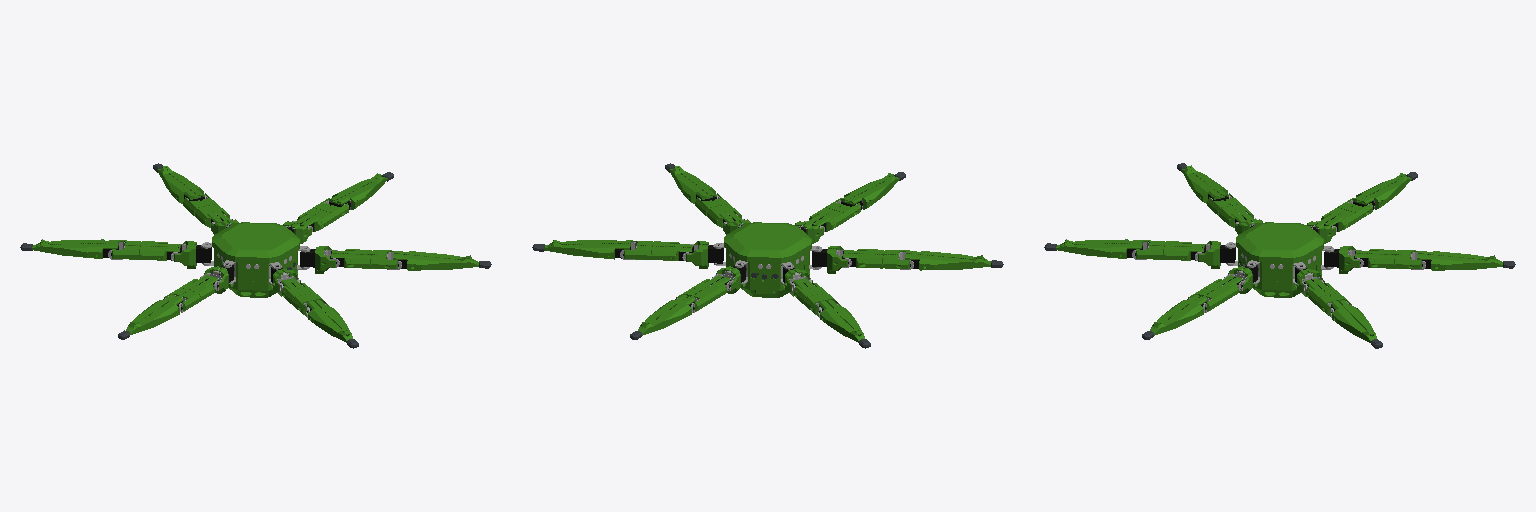
--- Facts derived from the render (not from the file) ---
3 views of the same robot in one strip: view 1: azimuth 30°, elevation 25°; view 2: azimuth 150°, elevation 25°; view 3: azimuth 270°, elevation 25° (orthographic).
Model [local-path]\OneDrive\Documents\hexapod\hexapod_py\simulation with 19 links and 18 joints (18 revolute), rooted at base_link, posed every joint at zero.
Visible links, largest first — view 1: base_link, foot_assembly_2, foot_assembly_5, foot_assembly_4, ties_assembly_5, ties_assembly_2, foot_assembly_3, foot_assembly, foot_assembly_6, ties_assembly_4, ties_assembly, ties_assembly_3 (+3 smaller); view 2: base_link, foot_assembly_4, foot_assembly, foot_assembly_6, ties_assembly, ties_assembly_4, foot_assembly_5, foot_assembly_3, foot_assembly_2, ties_assembly_6, ties_assembly_3, ties_assembly_5 (+3 smaller); view 3: base_link, foot_assembly_6, foot_assembly_3, foot_assembly_2, ties_assembly_3, ties_assembly_6, foot_assembly, foot_assembly_5, foot_assembly_4, ties_assembly_2, ties_assembly_5, ties_assembly (+3 smaller).
Boxes of the visible links, bbox=[...] form: base_link: bbox=[204, 222, 307, 297]; foot_assembly_2: bbox=[393, 251, 491, 270]; foot_assembly_5: bbox=[20, 239, 118, 258]; foot_assembly_4: bbox=[118, 294, 182, 339]; ties_assembly_5: bbox=[111, 240, 181, 260]; ties_assembly_2: bbox=[330, 249, 398, 269]; foot_assembly_3: bbox=[307, 300, 358, 348]; foot_assembly: bbox=[327, 172, 393, 209]; foot_assembly_6: bbox=[153, 163, 205, 203]; ties_assembly_4: bbox=[163, 275, 218, 312]; ties_assembly: bbox=[294, 198, 348, 231]; ties_assembly_3: bbox=[280, 278, 328, 317]; base_link: bbox=[716, 222, 819, 297]; foot_assembly_4: bbox=[905, 250, 1003, 270]; foot_assembly: bbox=[532, 240, 630, 259]; foot_assembly_6: bbox=[630, 295, 694, 339]; ties_assembly: bbox=[623, 240, 693, 260]; ties_assembly_4: bbox=[842, 249, 910, 269]; foot_assembly_5: bbox=[819, 300, 870, 348]; foot_assembly_3: bbox=[840, 172, 905, 209]; foot_assembly_2: bbox=[665, 163, 717, 203]; ties_assembly_6: bbox=[675, 275, 730, 312]; ties_assembly_3: bbox=[806, 198, 860, 231]; ties_assembly_5: bbox=[792, 278, 840, 317]; base_link: bbox=[1228, 222, 1331, 297]; foot_assembly_6: bbox=[1417, 251, 1515, 270]; foot_assembly_3: bbox=[1044, 239, 1142, 258]; foot_assembly_2: bbox=[1142, 295, 1206, 339]; ties_assembly_3: bbox=[1135, 240, 1205, 260]; ties_assembly_6: bbox=[1354, 249, 1422, 269]; foot_assembly: bbox=[1331, 300, 1382, 348]; foot_assembly_5: bbox=[1352, 172, 1417, 209]; foot_assembly_4: bbox=[1177, 163, 1229, 203]; ties_assembly_2: bbox=[1187, 275, 1242, 312]; ties_assembly_5: bbox=[1318, 198, 1372, 231]; ties_assembly: bbox=[1304, 278, 1351, 317].
Bounding box of the posed robot: 1.31 × 1.44 × 0.17 m (x, y, z).
141 mesh visuals loaded from 18 distinct referenced files (18 binary STL).

URDF robot description ([local-path]\OneDrive\Documents\hexapod\hexapod_py\simulation):
<?xml version="1.0" ?>
<!-- Generated using onshape-to-robot -->
<!-- Onshape https://cad.onshape.com/documents/026f9a33ba6a25a983a9d639/w/b83e0182bd0a887a03df3198/e/e49783848224d44e064e4a49 -->
<robot name="[local-path]\OneDrive\Documents\hexapod\hexapod_py\simulation">
  <!-- Link base_link -->
  <link name="base_link">
    <inertial>
      <origin xyz="0.000110218 0.00373922 -0.0151302" rpy="0 0 0"/>
      <mass value="2.53298"/>
      <inertia ixx="0.0181121" ixy="0.000710932" ixz="-2.18499e-05" iyy="0.0168006" iyz="2.07304e-05" izz="0.0247691"/>
    </inertial>
    <!-- Part mobile_bracket -->
    <visual>
      <origin xyz="0.1066 0.053231 -0.0168925" rpy="1.13446 1.5708 0"/>
      <geometry>
        <mesh filename="package://meshes\mobile_bracket.stl"/>
      </geometry>
      <material name="mobile_bracket_material">
        <color rgba="0.647059 0.647059 0.647059 1"/>
      </material>
    </visual>
    <collision>
      <origin xyz="0.1066 0.053231 -0.0168925" rpy="1.13446 1.5708 0"/>
      <geometry>
        <mesh filename="package://meshes\mobile_bracket.stl"/>
      </geometry>
    </collision>
    <!-- Part ultrasound_sensor -->
    <visual>
      <origin xyz="0.0624927 0.0922459 0.00310749" rpy="8.71922e-15 -3.34841e-14 -0.610865"/>
      <geometry>
        <mesh filename="package://meshes\ultrasound_sensor.stl"/>
      </geometry>
      <material name="ultrasound_sensor_material">
        <color rgba="0.701961 0.701961 0.701961 1"/>
      </material>
    </visual>
    <collision>
      <origin xyz="0.0624927 0.0922459 0.00310749" rpy="8.71922e-15 -3.34841e-14 -0.610865"/>
      <geometry>
        <mesh filename="package://meshes\ultrasound_sensor.stl"/>
      </geometry>
    </collision>
    <!-- Part ultrasound_sensor_2 -->
    <visual>
      <origin xyz="-0.0450964 0.101659 0.00310749" rpy="-3.14159 2.42931e-14 -2.70526"/>
      <geometry>
        <mesh filename="package://meshes\ultrasound_sensor.stl"/>
      </geometry>
      <material name="ultrasound_sensor_2_material">
        <color rgba="0.701961 0.701961 0.701961 1"/>
      </material>
    </visual>
    <collision>
      <origin xyz="-0.0450964 0.101659 0.00310749" rpy="-3.14159 2.42931e-14 -2.70526"/>
      <geometry>
        <mesh filename="package://meshes\ultrasound_sensor.stl"/>
      </geometry>
    </collision>
    <!-- Part mobile_bracket_2 -->
    <visual>
      <origin xyz="0.0964012 -0.0633408 -0.0168925" rpy="2.18166 1.5708 0"/>
      <geometry>
        <mesh filename="package://meshes\mobile_bracket.stl"/>
      </geometry>
      <material name="mobile_bracket_2_material">
        <color rgba="0.647059 0.647059 0.647059 1"/>
      </material>
    </visual>
    <collision>
      <origin xyz="0.0964012 -0.0633408 -0.0168925" rpy="2.18166 1.5708 0"/>
      <geometry>
        <mesh filename="package://meshes\mobile_bracket.stl"/>
      </geometry>
    </collision>
    <!-- Part camera -->
    <visual>
      <origin xyz="-0.042772 0.096674 -0.0288925" rpy="3.14159 -2.43206e-14 0.436332"/>
      <geometry>
        <mesh filename="package://meshes\camera.stl"/>
      </geometry>
      <material name="camera_material">
        <color rgba="0.262745 0.282353 0.301961 1"/>
      </material>
    </visual>
    <collision>
      <origin xyz="-0.042772 0.096674 -0.0288925" rpy="3.14159 -2.43206e-14 0.436332"/>
      <geometry>
        <mesh filename="package://meshes\camera.stl"/>
      </geometry>
    </collision>
    <!-- Part u_sensor_holder -->
    <visual>
      <origin xyz="-0.0450964 0.101659 0.00310749" rpy="-2.46385e-14 -2.42931e-14 0.436332"/>
      <geometry>
        <mesh filename="package://meshes\u_sensor_holder.stl"/>
      </geometry>
      <material name="u_sensor_holder_material">
        <color rgba="0.282353 0.54902 0.160784 1"/>
      </material>
    </visual>
    <collision>
      <origin xyz="-0.0450964 0.101659 0.00310749" rpy="-2.46385e-14 -2.42931e-14 0.436332"/>
      <geometry>
        <mesh filename="package://meshes\u_sensor_holder.stl"/>
      </geometry>
    </collision>
    <!-- Part camera_2 -->
    <visual>
      <origin xyz="0.0438648 -0.0891191 -0.0288925" rpy="-3.14159 2.42931e-14 -2.70526"/>
      <geometry>
        <mesh filename="package://meshes\camera.stl"/>
      </geometry>
      <material name="camera_2_material">
        <color rgba="0.262745 0.282353 0.301961 1"/>
      </material>
    </visual>
    <collision>
      <origin xyz="0.0438648 -0.0891191 -0.0288925" rpy="-3.14159 2.42931e-14 -2.70526"/>
      <geometry>
        <mesh filename="package://meshes\camera.stl"/>
      </geometry>
    </collision>
    <!-- Part bottom_cover -->
    <visual>
      <origin xyz="0.000546408 0.00377743 -0.0518925" rpy="-3.14159 -2.46385e-14 -1.13446"/>
      <geometry>
        <mesh filename="package://meshes\bottom_cover.stl"/>
      </geometry>
      <material name="bottom_cover_material">
        <color rgba="0.282353 0.54902 0.160784 1"/>
      </material>
    </visual>
    <collision>
      <origin xyz="0.000546408 0.00377743 -0.0518925" rpy="-3.14159 -2.46385e-14 -1.13446"/>
      <geometry>
        <mesh filename="package://meshes\bottom_cover.stl"/>
      </geometry>
    </collision>
    <!-- Part left_speaker -->
    <visual>
      <origin xyz="-0.0398634 -0.0539337 0.0185598" rpy="1.5708 0.523599 -0.610865"/>
      <geometry>
        <mesh filename="package://meshes\left_speaker.stl"/>
      </geometry>
      <material name="left_speaker_material">
        <color rgba="0.262745 0.282353 0.301961 1"/>
      </material>
    </visual>
    <collision>
      <origin xyz="-0.0398634 -0.0539337 0.0185598" rpy="1.5708 0.523599 -0.610865"/>
      <geometry>
        <mesh filename="package://meshes\left_speaker.stl"/>
      </geometry>
    </collision>
    <!-- Part body_power -->
    <visual>
      <origin xyz="0.000546408 0.00377743 -0.0168925" rpy="2.46385e-14 2.42931e-14 -2.70526"/>
      <geometry>
        <mesh filename="package://meshes\body_power.stl"/>
      </geometry>
      <material name="body_power_material">
        <color rgba="0.282353 0.54902 0.160784 1"/>
      </material>
    </visual>
    <collision>
      <origin xyz="0.000546408 0.00377743 -0.0168925" rpy="2.46385e-14 2.42931e-14 -2.70526"/>
      <geometry>
        <mesh filename="package://meshes\body_power.stl"/>
      </geometry>
    </collision>
    <!-- Part mobile_bracket_3 -->
    <visual>
      <origin xyz="-0.0096523 -0.112794 -0.0168925" rpy="3.05433 -1.5708 0"/>
      <geometry>
        <mesh filename="package://meshes\mobile_bracket.stl"/>
      </geometry>
      <material name="mobile_bracket_3_material">
        <color rgba="0.647059 0.647059 0.647059 1"/>
      </material>
    </visual>
    <collision>
      <origin xyz="-0.0096523 -0.112794 -0.0168925" rpy="3.05433 -1.5708 0"/>
      <geometry>
        <mesh filename="package://meshes\mobile_bracket.stl"/>
      </geometry>
    </collision>
    <!-- Part cover -->
    <visual>
      <origin xyz="0.000546408 0.00377743 0.0181075" rpy="3.34841e-14 8.71922e-15 -2.18166"/>
      <geometry>
        <mesh filename="package://meshes\cover.stl"/>
      </geometry>
      <material name="cover_material">
        <color rgba="0.282353 0.54902 0.160784 1"/>
      </material>
    </visual>
    <collision>
      <origin xyz="0.000546408 0.00377743 0.0181075" rpy="3.34841e-14 8.71922e-15 -2.18166"/>
      <geometry>
        <mesh filename="package://meshes\cover.stl"/>
      </geometry>
    </collision>
    <!-- Part mobile_bracket_4 -->
    <visual>
      <origin xyz="0.0107451 0.120349 -0.0168925" rpy="0.0872665 1.5708 0"/>
      <geometry>
        <mesh filename="package://meshes\mobile_bracket.stl"/>
      </geometry>
      <material name="mobile_bracket_4_material">
        <color rgba="0.647059 0.647059 0.647059 1"/>
      </material>
    </visual>
    <collision>
      <origin xyz="0.0107451 0.120349 -0.0168925" rpy="0.0872665 1.5708 0"/>
      <geometry>
        <mesh filename="package://meshes\mobile_bracket.stl"/>
      </geometry>
    </collision>
    <!-- Part ultrasound_sensor_3 -->
    <visual>
      <origin xyz="-0.0613998 -0.084691 0.00310749" rpy="-8.71922e-15 3.34841e-14 2.53073"/>
      <geometry>
        <mesh filename="package://meshes\ultrasound_sensor.stl"/>
      </geometry>
      <material name="ultrasound_sensor_3_material">
        <color rgba="0.701961 0.701961 0.701961 1"/>
      </material>
    </visual>
    <collision>
      <origin xyz="-0.0613998 -0.084691 0.00310749" rpy="-8.71922e-15 3.34841e-14 2.53073"/>
      <geometry>
        <mesh filename="package://meshes\ultrasound_sensor.stl"/>
      </geometry>
    </collision>
    <!-- Part mobile_bracket_5 -->
    <visual>
      <origin xyz="-0.105507 -0.0456761 -0.0168925" rpy="2.00713 -1.5708 0"/>
      <geometry>
        <mesh filename="package://meshes\mobile_bracket.stl"/>
      </geometry>
      <material name="mobile_bracket_5_material">
        <color rgba="0.647059 0.647059 0.647059 1"/>
      </material>
    </visual>
    <collision>
      <origin xyz="-0.105507 -0.0456761 -0.0168925" rpy="2.00713 -1.5708 0"/>
      <geometry>
        <mesh filename="package://meshes\mobile_bracket.stl"/>
      </geometry>
    </collision>
    <!-- Part mobile_bracket_6 -->
    <visual>
      <origin xyz="-0.0953084 0.0708957 -0.0168925" rpy="0.959931 -1.5708 0"/>
      <geometry>
        <mesh filename="package://meshes\mobile_bracket.stl"/>
      </geometry>
      <material name="mobile_bracket_6_material">
        <color rgba="0.647059 0.647059 0.647059 1"/>
      </material>
    </visual>
    <collision>
      <origin xyz="-0.0953084 0.0708957 -0.0168925" rpy="0.959931 -1.5708 0"/>
      <geometry>
        <mesh filename="package://meshes\mobile_bracket.stl"/>
      </geometry>
    </collision>
    <!-- Part body_brain -->
    <visual>
      <origin xyz="0.000546408 0.00377743 -0.0168925" rpy="2.46385e-14 2.42931e-14 -2.70526"/>
      <geometry>
        <mesh filename="package://meshes\body_brain.stl"/>
      </geometry>
      <material name="body_brain_material">
        <color rgba="0.282353 0.54902 0.160784 1"/>
      </material>
    </visual>
    <collision>
      <origin xyz="0.000546408 0.00377743 -0.0168925" rpy="2.46385e-14 2.42931e-14 -2.70526"/>
      <geometry>
        <mesh filename="package://meshes\body_brain.stl"/>
      </geometry>
    </collision>
    <!-- Part ultrasound_sensor_4 -->
    <visual>
      <origin xyz="0.108135 -0.00563539 0.00310749" rpy="3.14159 9.19098e-15 1.48353"/>
      <geometry>
        <mesh filename="package://meshes\ultrasound_sensor.stl"/>
      </geometry>
      <material name="ultrasound_sensor_4_material">
        <color rgba="0.701961 0.701961 0.701961 1"/>
      </material>
    </visual>
    <collision>
      <origin xyz="0.108135 -0.00563539 0.00310749" rpy="3.14159 9.19098e-15 1.48353"/>
      <geometry>
        <mesh filename="package://meshes\ultrasound_sensor.stl"/>
      </geometry>
    </collision>
    <!-- Part ultrasound_sensor_5 -->
    <visual>
      <origin xyz="0.0461892 -0.0941038 0.00310749" rpy="3.14159 -2.42931e-14 0.436332"/>
      <geometry>
        <mesh filename="package://meshes\ultrasound_sensor.stl"/>
      </geometry>
      <material name="ultrasound_sensor_5_material">
        <color rgba="0.701961 0.701961 0.701961 1"/>
      </material>
    </visual>
    <collision>
      <origin xyz="0.0461892 -0.0941038 0.00310749" rpy="3.14159 -2.42931e-14 0.436332"/>
      <geometry>
        <mesh filename="package://meshes\ultrasound_sensor.stl"/>
      </geometry>
    </collision>
    <!-- Part left_speaker_2 -->
    <visual>
      <origin xyz="0.0707306 -0.00236289 0.0185598" rpy="1.5708 0.523599 1.48353"/>
      <geometry>
        <mesh filename="package://meshes\left_speaker.stl"/>
      </geometry>
      <material name="left_speaker_2_material">
        <color rgba="0.262745 0.282353 0.301961 1"/>
      </material>
    </visual>
    <collision>
      <origin xyz="0.0707306 -0.00236289 0.0185598" rpy="1.5708 0.523599 1.48353"/>
      <geometry>
        <mesh filename="package://meshes\left_speaker.stl"/>
      </geometry>
    </collision>
    <!-- Part ultrasound_sensor_6 -->
    <visual>
      <origin xyz="-0.107043 0.0131903 0.00310749" rpy="-3.14159 -9.19098e-15 -1.65806"/>
      <geometry>
        <mesh filename="package://meshes\ultrasound_sensor.stl"/>
      </geometry>
      <material name="ultrasound_sensor_6_material">
        <color rgba="0.701961 0.701961 0.701961 1"/>
      </material>
    </visual>
    <collision>
      <origin xyz="-0.107043 0.0131903 0.00310749" rpy="-3.14159 -9.19098e-15 -1.65806"/>
      <geometry>
        <mesh filename="package://meshes\ultrasound_sensor.stl"/>
      </geometry>
    </collision>
  </link>
  <!-- Link hip_assembly -->
  <link name="hip_assembly">
    <inertial>
      <origin xyz="0.0268487 0.000325484 -0.0302141" rpy="0 0 0"/>
      <mass value="0.365356"/>
      <inertia ixx="0.000168136" ixy="-2.8417e-07" ixz="-3.2467e-06" iyy="0.000312332" iyz="9.42575e-07" izz="0.000312341"/>
    </inertial>
    <!-- Part hip -->
    <visual>
      <origin xyz="0.0575 0.0005 -0.0045" rpy="1.25181e-15 -4.80771e-15 -3.14159"/>
      <geometry>
        <mesh filename="package://meshes\hip.stl"/>
      </geometry>
      <material name="hip_material">
        <color rgba="0.282353 0.54902 0.160784 1"/>
      </material>
    </visual>
    <collision>
      <origin xyz="0.0575 0.0005 -0.0045" rpy="1.25181e-15 -4.80771e-15 -3.14159"/>
      <geometry>
        <mesh filename="package://meshes\hip.stl"/>
      </geometry>
    </collision>
    <!-- Part mobile_bracket_7 -->
    <visual>
      <origin xyz="0.0575 1.42984e-13 -0.0305" rpy="-4.45935e-15 -5.30804e-15 -1.5708"/>
      <geometry>
        <mesh filename="package://meshes\mobile_bracket.stl"/>
      </geometry>
      <material name="mobile_bracket_7_material">
        <color rgba="0.647059 0.647059 0.647059 1"/>
      </material>
    </visual>
    <collision>
      <origin xyz="0.0575 1.42984e-13 -0.0305" rpy="-4.45935e-15 -5.30804e-15 -1.5708"/>
      <geometry>
        <mesh filename="package://meshes\mobile_bracket.stl"/>
      </geometry>
    </collision>
    <!-- Part servo_wheel -->
    <visual>
      <origin xyz="-2.77556e-17 2.12504e-17 -0.0025" rpy="-3.14159 -4.73604e-15 -3.14159"/>
      <geometry>
        <mesh filename="package://meshes\servo_wheel.stl"/>
      </geometry>
      <material name="servo_wheel_material">
        <color rgba="0.647059 0.647059 0.647059 1"/>
      </material>
    </visual>
    <collision>
      <origin xyz="-2.77556e-17 2.12504e-17 -0.0025" rpy="-3.14159 -4.73604e-15 -3.14159"/>
      <geometry>
        <mesh filename="package://meshes\servo_wheel.stl"/>
      </geometry>
    </collision>
    <!-- Part servo -->
    <visual>
      <origin xyz="0.0175 0.00140442 -0.0305" rpy="-3.14159 -2.86696e-15 -3.14159"/>
      <geometry>
        <mesh filename="package://meshes\servo.stl"/>
      </geometry>
      <material name="servo_material">
        <color rgba="0.109804 0.109804 0.105882 1"/>
      </material>
    </visual>
    <collision>
      <origin xyz="0.0175 0.00140442 -0.0305" rpy="-3.14159 -2.86696e-15 -3.14159"/>
      <geometry>
        <mesh filename="package://meshes\servo.stl"/>
      </geometry>
    </collision>
    <!-- Part fixed_bracket -->
    <visual>
      <origin xyz="0.0575 1.42984e-13 -0.0305" rpy="-1.5708 1.5708 0"/>
      <geometry>
        <mesh filename="package://meshes\fixed_bracket.stl"/>
      </geometry>
      <material name="fixed_bracket_material">
        <color rgba="0.647059 0.647059 0.647059 1"/>
      </material>
    </visual>
    <collision>
      <origin xyz="0.0575 1.42984e-13 -0.0305" rpy="-1.5708 1.5708 0"/>
      <geometry>
        <mesh filename="package://meshes\fixed_bracket.stl"/>
      </geometry>
    </collision>
    <!-- Part servo_wheel_2 -->
    <visual>
      <origin xyz="-2.77556e-17 3.20924e-17 -0.0585" rpy="-3.14159 -4.94581e-15 -3.14159"/>
      <geometry>
        <mesh filename="package://meshes\servo_wheel.stl"/>
      </geometry>
      <material name="servo_wheel_2_material">
        <color rgba="0.647059 0.647059 0.647059 1"/>
      </material>
    </visual>
    <collision>
      <origin xyz="-2.77556e-17 3.20924e-17 -0.0585" rpy="-3.14159 -4.94581e-15 -3.14159"/>
      <geometry>
        <mesh filename="package://meshes\servo_wheel.stl"/>
      </geometry>
    </collision>
  </link>
  <!-- Link ties_assembly -->
  <link name="ties_assembly">
    <inertial>
      <origin xyz="0.0643598 0.00153088 -0.0309357" rpy="0 0 0"/>
      <mass value="0.589115"/>
      <inertia ixx="0.000320336" ixy="-2.41497e-05" ixz="1.07866e-05" iyy="0.00208685" iyz="2.0947e-07" izz="0.00187002"/>
    </inertial>
    <!-- Part mobile_bracket_8 -->
    <visual>
      <origin xyz="0.1568 0.000210323 -0.0311738" rpy="1.5708 1.5708 0"/>
      <geometry>
        <mesh filename="package://meshes\mobile_bracket.stl"/>
      </geometry>
      <material name="mobile_bracket_8_material">
        <color rgba="0.647059 0.647059 0.647059 1"/>
      </material>
    </visual>
    <collision>
      <origin xyz="0.1568 0.000210323 -0.0311738" rpy="1.5708 1.5708 0"/>
      <geometry>
        <mesh filename="package://meshes\mobile_bracket.stl"/>
      </geometry>
    </collision>
    <!-- Part low_tie -->
    <visual>
      <origin xyz="0.0268 0.000210323 -0.0311738" rpy="-1.90781e-16 1.5708 0"/>
      <geometry>
        <mesh filename="package://meshes\low_tie.stl"/>
      </geometry>
      <material name="low_tie_material">
        <color rgba="0.282353 0.54902 0.160784 1"/>
      </material>
    </visual>
    <collision>
      <origin xyz="0.0268 0.000210323 -0.0311738" rpy="-1.90781e-16 1.5708 0"/>
      <geometry>
        <mesh filename="package://meshes\low_tie.stl"/>
      </geometry>
    </collision>
    <!-- Part top_tie -->
    <visual>
      <origin xyz="0.0275 1.38778e-17 -0.0305" rpy="-1.90781e-16 1.5708 0"/>
      <geometry>
        <mesh filename="package://meshes\top_tie.stl"/>
      </geometry>
      <material name="top_tie_material">
        <color rgba="0.282353 0.54902 0.160784 1"/>
      </material>
    </visual>
    <collision>
      <origin xyz="0.0275 1.38778e-17 -0.0305" rpy="-1.90781e-16 1.5708 0"/>
      <geometry>
        <mesh filename="package://meshes\top_tie.stl"/>
      </geometry>
    </collision>
    <!-- Part servo_wheel_3 -->
    <visual>
      <origin xyz="-5.55112e-17 3.46945e-18 -0.0025" rpy="3.14159 -3.02861e-16 -3.14159"/>
      <geometry>
        <mesh filename="package://meshes\servo_wheel.stl"/>
      </geometry>
      <material name="servo_wheel_3_material">
        <color rgba="0.647059 0.647059 0.647059 1"/>
      </material>
    </visual>
    <collision>
      <origin xyz="-5.55112e-17 3.46945e-18 -0.0025" rpy="3.14159 -3.02861e-16 -3.14159"/>
      <geometry>
        <mesh filename="package://meshes\servo_wheel.stl"/>
      </geometry>
    </collision>
    <!-- Part servo_2 -->
    <visual>
      <origin xyz="0.0175 0.00140442 -0.0305" rpy="3.14159 -2.09141e-16 -3.14159"/>
      <geometry>
        <mesh filename="package://meshes\servo.stl"/>
      </geometry>
      <material name="servo_2_material">
        <color rgba="0.109804 0.109804 0.105882 1"/>
      </material>
    </visual>
    <collision>
      <origin xyz="0.0175 0.00140442 -0.0305" rpy="3.14159 -2.09141e-16 -3.14159"/>
      <geometry>
        <mesh filename="package://meshes\servo.stl"/>
      </geometry>
    </collision>
    <!-- Part fixed_bracket_2 -->
    <visual>
      <origin xyz="0.0575 2.08167e-17 -0.0305" rpy="-1.5708 1.5708 0"/>
      <geometry>
        <mesh filename="package://meshes\fixed_bracket.stl"/>
      </geometry>
      <material name="fixed_bracket_2_material">
        <color rgba="0.647059 0.647059 0.647059 1"/>
      </material>
    </visual>
    <collision>
      <origin xyz="0.0575 2.08167e-17 -0.0305" rpy="-1.5708 1.5708 0"/>
      <geometry>
        <mesh filename="package://meshes\fixed_bracket.stl"/>
      </geometry>
    </collision>
    <!-- Part servo_wheel_4 -->
    <visual>
      <origin xyz="-8.32667e-17 -1.04083e-17 -0.0585" rpy="-3.14159 -5.66514e-16 -3.14159"/>
      <geometry>
        <mesh filename="package://meshes\servo_wheel.stl"/>
      </geometry>
      <material name="servo_wheel_4_material">
        <color rgba="0.647059 0.647059 0.647059 1"/>
      </material>
    </visual>
    <collision>
      <origin xyz="-8.32667e-17 -1.04083e-17 -0.0585" rpy="-3.14159 -5.66514e-16 -3.14159"/>
      <geometry>
        <mesh filename="package://meshes\servo_wheel.stl"/>
      </geometry>
    </collision>
  </link>
  <!-- Link foot_assembly -->
  <link name="foot_assembly">
    <inertial>
      <origin xyz="-0.0724503 -0.00208415 -0.0306672" rpy="0 0 0"/>
      <mass value="0.633745"/>
      <inertia ixx="0.000268495" ixy="-1.4806e-05" ixz="4.28294e-06" iyy="0.00320961" iyz="-2.30165e-07" izz="0.00304658"/>
    </inertial>
    <!-- Part foot -->
    <visual>
      <origin xyz="-0.04425 -2.08167e-17 -0.0305" rpy="-4.71681e-16 1.5708 0"/>
      <geometry>
        <mesh filename="package://meshes\foot.stl"/>
      </geometry>
      <material name="foot_material">
        <color rgba="0.282353 0.54902 0.160784 1"/>
      </material>
    </visual>
    <collision>
      <origin xyz="-0.04425 -2.08167e-17 -0.0305" rpy="-4.71681e-16 1.5708 0"/>
      <geometry>
        <mesh filename="package://meshes\foot.stl"/>
      </geometry>
    </collision>
    <!-- Part ir_sensor_cap -->
    <visual>
      <origin xyz="-0.04425 -1.2039e-15 -0.0305" rpy="6.67378e-15 1.5708 0"/>
      <geometry>
        <mesh filename="package://meshes\ir_sensor_cap.stl"/>
      </geometry>
      <material name="ir_sensor_cap_material">
        <color rgba="0.282353 0.54902 0.160784 1"/>
      </material>
    </visual>
    <collision>
      <origin xyz="-0.04425 -1.2039e-15 -0.0305" rpy="6.67378e-15 1.5708 0"/>
      <geometry>
        <mesh filename="package://meshes\ir_sensor_cap.stl"/>
      </geometry>
    </collision>
    <!-- Part rubber_foot -->
    <visual>
      <origin xyz="-0.04375 -1.73125e-15 -0.03" rpy="7.37908e-15 1.5708 0"/>
      <geometry>
        <mesh filename="package://meshes\rubber_foot.stl"/>
      </geometry>
      <material name="rubber_foot_material">
        <color rgba="0.262745 0.282353 0.301961 1"/>
      </material>
    </visual>
    <collision>
      <origin xyz="-0.04375 -1.73125e-15 -0.03" rpy="7.37908e-15 1.5708 0"/>
      <geometry>
        <mesh filename="package://meshes\rubber_foot.stl"/>
      </geometry>
    </collision>
    <!-- Part servo_wheel_5 -->
    <visual>
      <origin xyz="-5.55112e-17 0 -0.0025" rpy="3.14159 -5.84205e-18 -4.99413e-30"/>
      <geometry>
        <mesh filename="package://meshes\servo_wheel.stl"/>
      </geometry>
      <material name="servo_wheel_5_material">
        <color rgba="0.647059 0.647059 0.647059 1"/>
      </material>
    </visual>
    <collision>
      <origin xyz="-5.55112e-17 0 -0.0025" rpy="3.14159 -5.84205e-18 -4.99413e-30"/>
      <geometry>
        <mesh filename="package://meshes\servo_wheel.stl"/>
      </geometry>
    </collision>
    <!-- Part servo_3 -->
    <visual>
      <origin xyz="-0.0175 -0.00140442 -0.0305" rpy="-3.14159 -7.5462e-17 4.71681e-16"/>
      <geometry>
        <mesh filename="package://meshes\servo.stl"/>
      </geometry>
      <material name="servo_3_material">
        <color rgba="0.109804 0.109804 0.105882 1"/>
      </material>
    </visual>
    <collision>
      <origin xyz="-0.0175 -0.00140442 -0.0305" rpy="-3.14159 -7.5462e-17 4.71681e-16"/>
      <geometry>
        <mesh filename="package://meshes\servo.stl"/>
      </geometry>
    </collision>
    <!-- Part fixed_bracket_3 -->
    <visual>
      <origin xyz="-0.0575 -2.77556e-17 -0.0305" rpy="1.5708 1.5708 0"/>
      <geometry>
        <mesh filename="package://meshes\fixed_bracket.stl"/>
      </geometry>
      <material name="fixed_bracket_3_material">
        <color rgba="0.647059 0.647059 0.647059 1"/>
      </material>
    </visual>
    <collision>
      <origin xyz="-0.0575 -2.77556e-17 -0.0305" rpy="1.5708 1.5708 0"/>
      <geometry>
        <mesh filename="package://meshes\fixed_bracket.stl"/>
      </geometry>
    </collision>
    <!-- Part servo_wheel_6 -->
    <visual>
      <origin xyz="-5.55112e-17 -1.73472e-17 -0.0585" rpy="-3.14159 -2.69494e-16 1.25356e-15"/>
      <geometry>
        <mesh filename="package://meshes\servo_wheel.stl"/>
      </geometry>
      <material name="servo_wheel_6_material">
        <color rgba="0.647059 0.647059 0.647059 1"/>
      </material>
    </visual>
    <collision>
      <origin xyz="-5.55112e-17 -1.73472e-17 -0.0585" rpy="-3.14159 -2.69494e-16 1.25356e-15"/>
      <geometry>
        <mesh filename="package://meshes\servo_wheel.stl"/>
      </geometry>
    </collision>
  </link>
  <!-- Joint from ties_assembly to foot_assembly -->
  <joint name="foot_1" type="revolute">
    <origin xyz="0.1918 0.000210323 -0.000790548" rpy="-1.66622e-14 -3.69666e-15 3.14159"/>
    <parent link="ties_assembly"/>
    <child link="foot_assembly"/>
    <axis xyz="0 0 1"/>
    <limit effort="10" velocity="10" lower="-2.0944" upper="2.0944"/>
  </joint>
  <!-- Joint from hip_assembly to ties_assembly -->
  <joint name="ties_1" type="revolute">
    <origin xyz="0.0925 -0.0311167 -0.0305" rpy="1.5708 4.45935e-15 2.48483e-12"/>
    <parent link="hip_assembly"/>
    <child link="ties_assembly"/>
    <axis xyz="0 0 1"/>
    <limit effort="10" velocity="10" lower="-1.74533" upper="1.74533"/>
  </joint>
  <!-- Joint from base_link to hip_assembly -->
  <joint name="hip_1" type="revolute">
    <origin xyz="0.138321 0.0680226 0.0134908" rpy="-2.3989e-14 -2.8749e-14 0.436332"/>
    <parent link="base_link"/>
    <child link="hip_assembly"/>
    <axis xyz="0 0 1"/>
    <limit effort="10" velocity="10" lower="-1.5708" upper="1.5708"/>
  </joint>
  <!-- Link hip_assembly_2 -->
  <link name="hip_assembly_2">
    <inertial>
      <origin xyz="-0.0268487 -0.000325484 -0.0302141" rpy="0 0 0"/>
      <mass value="0.365356"/>
      <inertia ixx="0.000168136" ixy="-2.8417e-07" ixz="3.2467e-06" iyy="0.000312332" iyz="-9.42575e-07" izz="0.000312341"/>
    </inertial>
    <!-- Part hip_2 -->
    <visual>
      <origin xyz="-0.0575 -0.0005 -0.0045" rpy="-9.81323e-15 4.86997e-15 -1.57814e-16"/>
      <geometry>
        <mesh filename="package://meshes\hip.stl"/>
      </geometry>
      <material name="hip_2_material">
        <color rgba="0.282353 0.54902 0.160784 1"/>
      </material>
    </visual>
    <collision>
      <origin xyz="-0.0575 -0.0005 -0.0045" rpy="-9.81323e-15 4.86997e-15 -1.57814e-16"/>
      <geometry>
        <mesh filename="package://meshes\hip.stl"/>
      </geometry>
    </collision>
    <!-- Part mobile_bracket_9 -->
    <visual>
      <origin xyz="-0.0575 -7.80626e-18 -0.0305" rpy="8.55001e-16 -9.52702e-16 1.5708"/>
      <geometry>
        <mesh filename="package://meshes\mobile_bracket.stl"/>
      </geometry>
      <material name="mobile_bracket_9_material">
        <color rgba="0.647059 0.647059 0.647059 1"/>
      </material>
    </visual>
    <collision>
      <origin xyz="-0.0575 -7.80626e-18 -0.0305" rpy="8.55001e-16 -9.52702e-16 1.5708"/>
      <geometry>
        <mesh filename="package://meshes\mobile_bracket.stl"/>
      </geometry>
    </collision>
    <!-- Part servo_wheel_7 -->
    <visual>
      <origin xyz="2.77556e-17 -6.07153e-18 -0.0025" rpy="3.14159 3.8867e-30 -4.55901e-17"/>
      <geometry>
        <mesh filename="package://meshes\servo_wheel.stl"/>
      </geometry>
      <material name="servo_wheel_7_material">
        <color rgba="0.647059 0.647059 0.647059 1"/>
      </material>
    </visual>
    <collision>
      <origin xyz="2.77556e-17 -6.07153e-18 -0.0025" rpy="3.14159 3.8867e-30 -4.55901e-17"/>
      <geometry>
        <mesh filename="package://meshes\servo_wheel.stl"/>
      </geometry>
    </collision>
    <!-- Part servo_4 -->
    <visual>
      <origin xyz="-0.0175 -0.00140442 -0.0305" rpy="-3.14159 2.56343e-16 -2.07886e-17"/>
      <geometry>
        <mesh filename="package://meshes\servo.stl"/>
      </geometry>
      <material name="servo_4_material">
        <color rgba="0.109804 0.109804 0.105882 1"/>
      </material>
    </visual>
    <collision>
      <origin xyz="-0.0175 -0.00140442 -0.0305" rpy="-3.14159 2.56343e-16 -2.07886e-17"/>
      <geometry>
        <mesh filename="package://meshes\servo.stl"/>
      </geometry>
    </collision>
    <!-- Part fixed_bracket_4 -->
    <visual>
      <origin xyz="-0.0575 -7.80626e-18 -0.0305" rpy="1.5708 1.5708 0"/>
      <geometry>
        <mesh filename="package://meshes\fixed_bracket.stl"/>
      </geometry>
      <material name="fixed_bracket_4_material">
        <color rgba="0.647059 0.647059 0.647059 1"/>
      </material>
    </visual>
    <collision>
      <origin xyz="-0.0575 -7.80626e-18 -0.0305" rpy="1.5708 1.5708 0"/>
      <geometry>
        <mesh filename="package://meshes\fixed_bracket.stl"/>
      </geometry>
    </collision>
    <!-- Part servo_wheel_8 -->
    <visual>
      <origin xyz="0 -1.12757e-17 -0.0585" rpy="-3.14159 6.32414e-17 -2.66968e-17"/>
      <geometry>
        <mesh filename="package://meshes\servo_wheel.stl"/>
      </geometry>
      <material name="servo_wheel_8_material">
        <color rgba="0.647059 0.647059 0.647059 1"/>
      </material>
    </visual>
    <collision>
      <origin xyz="0 -1.12757e-17 -0.0585" rpy="-3.14159 6.32414e-17 -2.66968e-17"/>
      <geometry>
        <mesh filename="package://meshes\servo_wheel.stl"/>
      </geometry>
    </collision>
  </link>
  <!-- Link ties_assembly_2 -->
  <link name="ties_assembly_2">
    <inertial>
      <origin xyz="0.0643598 0.00153088 -0.0309357" rpy="0 0 0"/>
      <mass value="0.589115"/>
      <inertia ixx="0.000320336" ixy="-2.41497e-05" ixz="1.07866e-05" iyy="0.00208685" iyz="2.0947e-07" izz="0.00187002"/>
    </inertial>
    <!-- Part mobile_bracket_10 -->
    <visual>
      <origin xyz="0.1568 0.000210323 -0.0311738" rpy="1.5708 1.5708 0"/>
      <geometry>
        <mesh filename="package://meshes\mobile_bracket.stl"/>
      </geometry>
      <material name="mobile_bracket_10_material">
        <color rgba="0.647059 0.647059 0.647059 1"/>
      </material>
    </visual>
    <collision>
      <origin xyz="0.1568 0.000210323 -0.0311738" rpy="1.5708 1.5708 0"/>
      <geometry>
        <mesh filename="package://meshes\mobile_bracket.stl"/>
      </geometry>
    </collision>
    <!-- Part low_tie_2 -->
    <visual>
      <origin xyz="0.0268 0.000210323 -0.0311738" rpy="-3.71491e-14 1.5708 0"/>
      <geometry>
        <mesh filename="package://meshes\low_tie.stl"/>
      </geometry>
      <material name="low_tie_2_material">
        <color rgba="0.282353 0.54902 0.160784 1"/>
      </material>
    </visual>
    <collision>
      <origin xyz="0.0268 0.000210323 -0.0311738" rpy="-3.71491e-14 1.5708 0"/>
      <geometry>
        <mesh filename="package://meshes\low_tie.stl"/>
      </geometry>
    </collision>
    <!-- Part top_tie_2 -->
    <visual>
      <origin xyz="0.0275 1.02002e-15 -0.0305" rpy="-3.71491e-14 1.5708 0"/>
      <geometry>
        <mesh filename="package://meshes\top_tie.stl"/>
      </geometry>
      <material name="top_tie_2_material">
        <color rgba="0.282353 0.54902 0.160784 1"/>
      </material>
    </visual>
    <collision>
      <origin xyz="0.0275 1.02002e-15 -0.0305" rpy="-3.71491e-14 1.5708 0"/>
      <geometry>
        <mesh filename="package://meshes\top_tie.stl"/>
      </geometry>
    </collision>
    <!-- Part servo_wheel_9 -->
    <visual>
      <origin xyz="0 3.46945e-18 -0.0025" rpy="-3.14159 -6.07909e-15 -3.14159"/>
      <geometry>
        <mesh filename="package://meshes\servo_wheel.stl"/>
      </geometry>
      <material name="servo_wheel_9_material">
        <color rgba="0.647059 0.647059 0.647059 1"/>
      </material>
    </visual>
    <collision>
      <origin xyz="0 3.46945e-18 -0.0025" rpy="-3.14159 -6.07909e-15 -3.14159"/>
      <geometry>
        <mesh filename="package://meshes\servo_wheel.stl"/>
      </geometry>
    </collision>
    <!-- Part servo_5 -->
    <visual>
      <origin xyz="0.0175 0.00140442 -0.0305" rpy="3.14159 -7.09719e-15 -3.14159"/>
      <geometry>
        <mesh filename="package://meshes\servo.stl"/>
      </geometry>
      <material name="servo_5_material">
        <color rgba="0.109804 0.109804 0.105882 1"/>
      </material>
    </visual>
    <collision>
      <origin xyz="0.0175 0.00140442 -0.0305" rpy="3.14159 -7.09719e-15 -3.14159"/>
      <geometry>
        <mesh filename="package://meshes\servo.stl"/>
      </geometry>
    </collision>
    <!-- Part fixed_bracket_5 -->
    <visual>
      <origin xyz="0.0575 2.13371e-15 -0.0305" rpy="-1.5708 1.5708 0"/>
      <geometry>
        <mesh filename="package://meshes\fixed_bracket.stl"/>
      </geometry>
      <material name="fixed_bracket_5_material">
        <color rgba="0.647059 0.647059 0.647059 1"/>
      </material>
    </visual>
    <collision>
      <origin xyz="0.0575 2.13371e-15 -0.0305" rpy="-1.5708 1.5708 0"/>
      <geometry>
        <mesh filename="package://meshes\fixed_bracket.stl"/>
      </geometry>
    </collision>
    <!-- Part servo_wheel_10 -->
    <visual>
      <origin xyz="2.77556e-17 3.46945e-18 -0.0585" rpy="-3.14159 -6.23027e-15 -3.14159"/>
      <geometry>
        <mesh filename="package://meshes\servo_wheel.stl"/>
      </geometry>
      <material name="servo_wheel_10_material">
        <color rgba="0.647059 0.647059 0.647059 1"/>
      </material>
    </visual>
    <collision>
      <origin xyz="2.77556e-17 3.46945e-18 -0.0585" rpy="-3.14159 -6.23027e-15 -3.14159"/>
      <geometry>
        <mesh filename="package://meshes\servo_wheel.stl"/>
      </geometry>
    </collision>
  </link>
  <!-- Link foot_assembly_2 -->
  <link name="foot_assembly_2">
    <inertial>
      <origin xyz="-0.0724503 -0.00208415 -0.0306672" rpy="0 0 0"/>
      <mass value="0.633745"/>
      <inertia ixx="0.000268495" ixy="-1.4806e-05" ixz="4.28294e-06" iyy="0.00320961" iyz="-2.30165e-07" izz="0.00304658"/>
    </inertial>
    <!-- Part foot_2 -->
    <visual>
      <origin xyz="-0.04425 6.93889e-18 -0.0305" rpy="-2.43594e-27 1.5708 0"/>
      <geometry>
        <mesh filename="package://meshes\foot.stl"/>
      </geometry>
      <material name="foot_2_material">
        <color rgba="0.282353 0.54902 0.160784 1"/>
      </material>
    </visual>
    <collision>
      <origin xyz="-0.04425 6.93889e-18 -0.0305" rpy="-2.43594e-27 1.5708 0"/>
      <geometry>
        <mesh filename="package://meshes\foot.stl"/>
      </geometry>
    </collision>
    <!-- Part ir_sensor_cap_2 -->
    <visual>
      <origin xyz="-0.04425 1.25247e-15 -0.0305" rpy="-6.5509e-15 1.5708 0"/>
      <geometry>
        <mesh filename="package://meshes\ir_sensor_cap.stl"/>
      </geometry>
      <material name="ir_sensor_cap_2_material">
        <color rgba="0.282353 0.54902 0.160784 1"/>
      </material>
    </visual>
    <collision>
      <origin xyz="-0.04425 1.25247e-15 -0.0305" rpy="-6.5509e-15 1.5708 0"/>
      <geometry>
        <mesh filename="package://meshes\ir_sensor_cap.stl"/>
      </geometry>
    </collision>
    <!-- Part rubber_foot_2 -->
    <visual>
      <origin xyz="-0.04375 1.66533e-15 -0.03" rpy="-7.87954e-15 1.5708 0"/>
      <geometry>
        <mesh filename="package://meshes\rubber_foot.stl"/>
      </geometry>
      <material name="rubber_foot_2_material">
        <color rgba="0.262745 0.282353 0.301961 1"/>
      </material>
    </visual>
    <collision>
      <origin xyz="-0.04375 1.66533e-15 -0.03" rpy="-7.87954e-15 1.5708 0"/>
      <geometry>
        <mesh filename="package://meshes\rubber_foot.stl"/>
      </geometry>
    </collision>
    <!-- Part servo_wheel_11 -->
    <visual>
      <origin xyz="1.11022e-16 0 -0.0025" rpy="-3.14159 4.41096e-17 -6.37252e-30"/>
      <geometry>
        <mesh filename="package://meshes\servo_wheel.stl"/>
      </geometry>
      <material name="servo_wheel_11_material">
        <color rgba="0.647059 0.647059 0.647059 1"/>
      </material>
    </visual>
    <collision>
      <origin xyz="1.11022e-16 0 -0.0025" rpy="-3.14159 4.41096e-17 -6.37252e-30"/>
      <geometry>
        <mesh filename="package://meshes\servo_wheel.stl"/>
      </geometry>
    </collision>
    <!-- Part servo_6 -->
    <visual>
      <origin xyz="-0.0175 -0.00140442 -0.0305" rpy="3.14159 8.66357e-17 1.1927e-27"/>
      <geometry>
        <mesh filename="package://meshes\servo.stl"/>
      </geometry>
      <material name="servo_6_material">
        <color rgba="0.109804 0.109804 0.105882 1"/>
      </material>
    </visual>
    <collision>
      <origin xyz="-0.0175 -0.00140442 -0.0305" rpy="3.14159 8.66357e-17 1.1927e-27"/>
      <geometry>
        <mesh filename="package://meshes\servo.stl"/>
      </geometry>
    </collision>
    <!-- Part fixed_bracket_6 -->
    <visual>
      <origin xyz="-0.0575 1.04083e-17 -0.0305" rpy="1.5708 1.5708 0"/>
      <geometry>
        <mesh filename="package://meshes\fixed_bracket.stl"/>
      </geometry>
      <material name="fixed_bracket_6_material">
        <color rgba="0.647059 0.647059 0.647059 1"/>
      </material>
    </visual>
    <collision>
      <origin xyz="-0.0575 1.04083e-17 -0.0305" rpy="1.5708 1.5708 0"/>
      <geometry>
        <mesh filename="package://meshes\fixed_bracket.stl"/>
      </geometry>
    </collision>
    <!-- Part servo_wheel_12 -->
    <visual>
      <origin xyz="0 0 -0.0585" rpy="3.14159 -7.49596e-15 1.1927e-27"/>
      <geometry>
        <mesh filename="package://meshes\servo_wheel.stl"/>
      </geometry>
      <material name="servo_wheel_12_material">
        <color rgba="0.647059 0.647059 0.647059 1"/>
      </material>
    </visual>
    <collision>
      <origin xyz="0 0 -0.0585" rpy="3.14159 -7.49596e-15 1.1927e-27"/>
      <geometry>
        <mesh filename="package://meshes\servo_wheel.stl"/>
      </geometry>
    </collision>
  </link>
  <!-- Joint from ties_assembly_2 to foot_assembly_2 -->
  <joint name="foot_2" type="revolute">
    <origin xyz="0.1918 0.000210323 -0.000790548" rpy="2.57504e-15 -5.91728e-15 3.14159"/>
    <parent link="ties_assembly_2"/>
    <child link="foot_assembly_2"/>
    <axis xyz="0 0 1"/>
    <limit effort="10" velocity="10" lower="-2.0944" upper="2.0944"/>
  </joint>
  <!-- Joint from hip_assembly_2 to ties_assembly_2 -->
  <joint name="ties_2" type="revolute">
    <origin xyz="-0.0925 0.0311167 -0.0305" rpy="1.5708 -8.55001e-16 3.14159"/>
    <parent link="hip_assembly_2"/>
    <child link="ties_assembly_2"/>
    <axis xyz="0 0 1"/>
    <limit effort="10" velocity="10" lower="-1.74533" upper="1.74533"/>
  </joint>
  <!-- Joint from base_link to hip_assembly_2 -->
  <joint name="hip_2" type="revolute">
    <origin xyz="0.125071 -0.083416 0.0134908" rpy="-7.92838e-15 3.38805e-14 2.53073"/>
    <parent link="base_link"/>
    <child link="hip_assembly_2"/>
    <axis xyz="0 0 1"/>
    <limit effort="10" velocity="10" lower="-1.5708" upper="1.5708"/>
  </joint>
  <!-- Link hip_assembly_3 -->
  <link name="hip_assembly_3">
    <inertial>
      <origin xyz="0.0268487 0.000325484 -0.0302141" rpy="0 0 0"/>
      <mass value="0.365356"/>
      <inertia ixx="0.000168136" ixy="-2.8417e-07" ixz="-3.2467e-06" iyy="0.000312332" iyz="9.42575e-07" izz="0.000312341"/>
    </inertial>
    <!-- Part hip_3 -->
    <visual>
      <origin xyz="0.0575 0.0005 -0.0045" rpy="-1.99788e-14 -9.22412e-17 -3.14159"/>
      <geometry>
        <mesh filename="package://meshes\hip.stl"/>
      </geometry>
      <material name="hip_3_material">
        <color rgba="0.282353 0.54902 0.160784 1"/>
      </material>
    </visual>
    <collision>
      <origin xyz="0.0575 0.0005 -0.0045" rpy="-1.99788e-14 -9.22412e-17 -3.14159"/>
      <geometry>
        <mesh filename="package://meshes\hip.stl"/>
      </geometry>
    </collision>
    <!-- Part mobile_bracket_11 -->
    <visual>
      <origin xyz="0.0575 1.43814e-13 -0.0305" rpy="-9.22412e-17 2.91099e-14 -1.5708"/>
      <geometry>
        <mesh filename="package://meshes\mobile_bracket.stl"/>
      </geometry>
      <material name="mobile_bracket_11_material">
        <color rgba="0.647059 0.647059 0.647059 1"/>
      </material>
    </visual>
    <collision>
      <origin xyz="0.0575 1.43814e-13 -0.0305" rpy="-9.22412e-17 2.91099e-14 -1.5708"/>
      <geometry>
        <mesh filename="package://meshes\mobile_bracket.stl"/>
      </geometry>
    </collision>
    <!-- Part servo_wheel_13 -->
    <visual>
      <origin xyz="0 -2.43945e-19 -0.0025" rpy="3.14159 -9.22412e-17 -3.14159"/>
      <geometry>
        <mesh filename="package://meshes\servo_wheel.stl"/>
      </geometry>
      <material name="servo_wheel_13_material">
        <color rgba="0.647059 0.647059 0.647059 1"/>
      </material>
    </visual>
    <collision>
      <origin xyz="0 -2.43945e-19 -0.0025" rpy="3.14159 -9.22412e-17 -3.14159"/>
      <geometry>
        <mesh filename="package://meshes\servo_wheel.stl"/>
      </geometry>
    </collision>
    <!-- Part servo_7 -->
    <visual>
      <origin xyz="0.0175 0.00140442 -0.0305" rpy="-3.14159 -9.22412e-17 -3.14159"/>
      <geometry>
        <mesh filename="package://meshes\servo.stl"/>
      </geometry>
      <material name="servo_7_material">
        <color rgba="0.109804 0.109804 0.105882 1"/>
      </material>
    </visual>
    <collision>
      <origin xyz="0.0175 0.00140442 -0.0305" rpy="-3.14159 -9.22412e-17 -3.14159"/>
      <geometry>
        <mesh filename="package://meshes\servo.stl"/>
      </geometry>
    </collision>
    <!-- Part fixed_bracket_7 -->
    <visual>
      <origin xyz="0.0575 1.43814e-13 -0.0305" rpy="-1.5708 1.5708 0"/>
      <geometry>
        <mesh filename="package://meshes\fixed_bracket.stl"/>
      </geometry>
      <material name="fixed_bracket_7_material">
        <color rgba="0.647059 0.647059 0.647059 1"/>
      </material>
    </visual>
    <collision>
      <origin xyz="0.0575 1.43814e-13 -0.0305" rpy="-1.5708 1.5708 0"/>
      <geometry>
        <mesh filename="package://meshes\fixed_bracket.stl"/>
      </geometry>
    </collision>
    <!-- Part servo_wheel_14 -->
    <visual>
      <origin xyz="-1.9984e-15 1.71846e-17 -0.0585" rpy="3.14159 -9.22412e-17 -3.14159"/>
      <geometry>
        <mesh filename="package://meshes\servo_wheel.stl"/>
      </geometry>
      <material name="servo_wheel_14_material">
        <color rgba="0.647059 0.647059 0.647059 1"/>
      </material>
    </visual>
    <collision>
      <origin xyz="-1.9984e-15 1.71846e-17 -0.0585" rpy="3.14159 -9.22412e-17 -3.14159"/>
      <geometry>
        <mesh filename="package://meshes\servo_wheel.stl"/>
      </geometry>
    </collision>
  </link>
  <!-- Link ties_assembly_3 -->
  <link name="ties_assembly_3">
    <inertial>
      <origin xyz="0.0643598 0.00153088 -0.0309357" rpy="0 0 0"/>
      <mass value="0.589115"/>
      <inertia ixx="0.000320336" ixy="-2.41497e-05" ixz="1.07866e-05" iyy="0.00208685" iyz="2.0947e-07" izz="0.00187002"/>
    </inertial>
    <!-- Part mobile_bracket_12 -->
    <visual>
      <origin xyz="0.1568 0.000210323 -0.0311738" rpy="1.5708 1.5708 0"/>
      <geometry>
        <mesh filename="package://meshes\mobile_bracket.stl"/>
      </geometry>
      <material name="mobile_bracket_12_material">
        <color rgba="0.647059 0.647059 0.647059 1"/>
      </material>
    </visual>
    <collision>
      <origin xyz="0.1568 0.000210323 -0.0311738" rpy="1.5708 1.5708 0"/>
      <geometry>
        <mesh filename="package://meshes\mobile_bracket.stl"/>
      </geometry>
    </collision>
    <!-- Part low_tie_3 -->
    <visual>
      <origin xyz="0.0268 0.000210323 -0.0311738" rpy="8.14959e-15 1.5708 0"/>
      <geometry>
        <mesh filename="package://meshes\low_tie.stl"/>
      </geometry>
      <material name="low_tie_3_material">
        <color rgba="0.282353 0.54902 0.160784 1"/>
      </material>
    </visual>
    <collision>
      <origin xyz="0.0268 0.000210323 -0.0311738" rpy="8.14959e-15 1.5708 0"/>
      <geometry>
        <mesh filename="package://meshes\low_tie.stl"/>
      </geometry>
    </collision>
    <!-- Part top_tie_3 -->
    <visual>
      <origin xyz="0.0275 -2.498e-16 -0.0305" rpy="8.14959e-15 1.5708 0"/>
      <geometry>
        <mesh filename="package://meshes\top_tie.stl"/>
      </geometry>
      <material name="top_tie_3_material">
        <color rgba="0.282353 0.54902 0.160784 1"/>
      </material>
    </visual>
    <collision>
      <origin xyz="0.0275 -2.498e-16 -0.0305" rpy="8.14959e-15 1.5708 0"/>
      <geometry>
        <mesh filename="package://meshes\top_tie.stl"/>
      </geometry>
    </collision>
    <!-- Part servo_wheel_15 -->
    <visual>
      <origin xyz="2.77556e-17 -3.46945e-18 -0.0025" rpy="-3.14159 7.2886e-17 3.14159"/>
      <geometry>
        <mesh filename="package://meshes\servo_wheel.stl"/>
      </geometry>
      <material name="servo_wheel_15_material">
        <color rgba="0.647059 0.647059 0.647059 1"/>
      </material>
    </visual>
    <collision>
      <origin xyz="2.77556e-17 -3.46945e-18 -0.0025" rpy="-3.14159 7.2886e-17 3.14159"/>
      <geometry>
        <mesh filename="package://meshes\servo_wheel.stl"/>
      </geometry>
    </collision>
    <!-- Part servo_8 -->
    <visual>
      <origin xyz="0.0175 0.00140442 -0.0305" rpy="-3.14159 -8.01519e-17 3.14159"/>
      <geometry>
        <mesh filename="package://meshes\servo.stl"/>
      </geometry>
      <material name="servo_8_material">
        <color rgba="0.109804 0.109804 0.105882 1"/>
      </material>
    </visual>
    <collision>
      <origin xyz="0.0175 0.00140442 -0.0305" rpy="-3.14159 -8.01519e-17 3.14159"/>
      <geometry>
        <mesh filename="package://meshes\servo.stl"/>
      </geometry>
    </collision>
    <!-- Part fixed_bracket_8 -->
    <visual>
      <origin xyz="0.0575 -4.96131e-16 -0.0305" rpy="-1.5708 1.5708 0"/>
      <geometry>
        <mesh filename="package://meshes\fixed_bracket.stl"/>
      </geometry>
      <material name="fixed_bracket_8_material">
        <color rgba="0.647059 0.647059 0.647059 1"/>
      </material>
    </visual>
    <collision>
      <origin xyz="0.0575 -4.96131e-16 -0.0305" rpy="-1.5708 1.5708 0"/>
      <geometry>
        <mesh filename="package://meshes\fixed_bracket.stl"/>
      </geometry>
    </collision>
    <!-- Part servo_wheel_16 -->
    <visual>
      <origin xyz="2.77556e-17 -3.46945e-18 -0.0585" rpy="-3.14159 -1.20361e-17 3.14159"/>
      <geometry>
        <mesh filename="package://meshes\servo_wheel.stl"/>
      </geometry>
      <material name="servo_wheel_16_material">
        <color rgba="0.647059 0.647059 0.647059 1"/>
      </material>
    </visual>
    <collision>
      <origin xyz="2.77556e-17 -3.46945e-18 -0.0585" rpy="-3.14159 -1.20361e-17 3.14159"/>
      <geometry>
        <mesh filename="package://meshes\servo_wheel.stl"/>
      </geometry>
    </collision>
  </link>
  <!-- Link foot_assembly_3 -->
  <link name="foot_assembly_3">
    <inertial>
      <origin xyz="-0.0724503 -0.00208415 -0.0306672" rpy="0 0 0"/>
      <mass value="0.633745"/>
      <inertia ixx="0.000268495" ixy="-1.4806e-05" ixz="4.28294e-06" iyy="0.00320961" iyz="-2.30165e-07" izz="0.00304658"/>
    </inertial>
    <!-- Part foot_3 -->
    <visual>
      <origin xyz="-0.04425 1.04083e-17 -0.0305" rpy="1.55031e-16 1.5708 0"/>
      <geometry>
        <mesh filename="package://meshes\foot.stl"/>
      </geometry>
      <material name="foot_3_material">
        <color rgba="0.282353 0.54902 0.160784 1"/>
      </material>
    </visual>
    <collision>
      <origin xyz="-0.04425 1.04083e-17 -0.0305" rpy="1.55031e-16 1.5708 0"/>
      <geometry>
        <mesh filename="package://meshes\foot.stl"/>
      </geometry>
    </collision>
    <!-- Part ir_sensor_cap_3 -->
    <visual>
      <origin xyz="-0.04425 2.84842e-15 -0.0305" rpy="-1.49841e-14 1.5708 0"/>
      <geometry>
        <mesh filename="package://meshes\ir_sensor_cap.stl"/>
      </geometry>
      <material name="ir_sensor_cap_3_material">
        <color rgba="0.282353 0.54902 0.160784 1"/>
      </material>
    </visual>
    <collision>
      <origin xyz="-0.04425 2.84842e-15 -0.0305" rpy="-1.49841e-14 1.5708 0"/>
      <geometry>
        <mesh filename="package://meshes\ir_sensor_cap.stl"/>
      </geometry>
    </collision>
    <!-- Part rubber_foot_3 -->
    <visual>
      <origin xyz="-0.04375 3.81639e-16 -0.03" rpy="-1.62907e-15 1.5708 0"/>
      <geometry>
        <mesh filename="package://meshes\rubber_foot.stl"/>
      </geometry>
      <material name="rubber_foot_3_material">
        <color rgba="0.262745 0.282353 0.301961 1"/>
      </material>
    </visual>
    <collision>
      <origin xyz="-0.04375 3.81639e-16 -0.03" rpy="-1.62907e-15 1.5708 0"/>
      <geometry>
        <mesh filename="package://meshes\rubber_foot.stl"/>
      </geometry>
    </collision>
    <!-- Part servo_wheel_17 -->
    <visual>
      <origin xyz="5.55112e-17 0 -0.0025" rpy="-3.14159 1.35612e-17 1.21394e-30"/>
      <geometry>
        <mesh filename="package://meshes\servo_wheel.stl"/>
      </geometry>
      <material name="servo_wheel_17_material">
        <color rgba="0.647059 0.647059 0.647059 1"/>
      </material>
    </visual>
    <collision>
      <origin xyz="5.55112e-17 0 -0.0025" rpy="-3.14159 1.35612e-17 1.21394e-30"/>
      <geometry>
        <mesh filename="package://meshes\servo_wheel.stl"/>
      </geometry>
    </collision>
    <!-- Part servo_9 -->
    <visual>
      <origin xyz="-0.0175 -0.00140442 -0.0305" rpy="-3.14159 1.5433e-15 -2.82897e-30"/>
      <geometry>
        <mesh filename="package://meshes\servo.stl"/>
      </geometry>
      <material name="servo_9_material">
        <color rgba="0.109804 0.109804 0.105882 1"/>
      </material>
    </visual>
    <collision>
      <origin xyz="-0.0175 -0.00140442 -0.0305" rpy="-3.14159 1.5433e-15 -2.82897e-30"/>
      <geometry>
        <mesh filename="package://meshes\servo.stl"/>
      </geometry>
    </collision>
    <!-- Part fixed_bracket_9 -->
    <visual>
      <origin xyz="-0.0575 1.38778e-17 -0.0305" rpy="1.5708 1.5708 0"/>
      <geometry>
        <mesh filename="package://meshes\fixed_bracket.stl"/>
      </geometry>
      <material name="fixed_bracket_9_material">
        <color rgba="0.647059 0.647059 0.647059 1"/>
      </material>
    </visual>
    <collision>
      <origin xyz="-0.0575 1.38778e-17 -0.0305" rpy="1.5708 1.5708 0"/>
      <geometry>
        <mesh filename="package://meshes\fixed_bracket.stl"/>
      </geometry>
    </collision>
    <!-- Part servo_wheel_18 -->
    <visual>
      <origin xyz="0 6.93889e-18 -0.0585" rpy="-3.14159 -2.80722e-17 -2.07665e-17"/>
      <geometry>
        <mesh filename="package://meshes\servo_wheel.stl"/>
      </geometry>
      <material name="servo_wheel_18_material">
        <color rgba="0.647059 0.647059 0.647059 1"/>
      </material>
    </visual>
    <collision>
      <origin xyz="0 6.93889e-18 -0.0585" rpy="-3.14159 -2.80722e-17 -2.07665e-17"/>
      <geometry>
        <mesh filename="package://meshes\servo_wheel.stl"/>
      </geometry>
    </collision>
  </link>
  <!-- Joint from ties_assembly_3 to foot_assembly_3 -->
  <joint name="foot_3" type="revolute">
    <origin xyz="0.1918 0.000210323 -0.000790548" rpy="1.68416e-15 -9.61937e-17 3.14159"/>
    <parent link="ties_assembly_3"/>
    <child link="foot_assembly_3"/>
    <axis xyz="0 0 1"/>
    <limit effort="10" velocity="10" lower="-2.0944" upper="2.0944"/>
  </joint>
  <!-- Joint from hip_assembly_3 to ties_assembly_3 -->
  <joint name="ties_3" type="revolute">
    <origin xyz="0.0925 -0.0311167 -0.0305" rpy="1.5708 9.22412e-17 2.50162e-12"/>
    <parent link="hip_assembly_3"/>
    <child link="ties_assembly_3"/>
    <axis xyz="0 0 1"/>
    <limit effort="10" velocity="10" lower="-1.74533" upper="1.74533"/>
  </joint>
  <!-- Joint from base_link to hip_assembly_3 -->
  <joint name="hip_3" type="revolute">
    <origin xyz="-0.0127028 -0.147661 0.0142242" rpy="3.23352e-14 -8.74693e-15 -1.65806"/>
    <parent link="base_link"/>
    <child link="hip_assembly_3"/>
    <axis xyz="0 0 1"/>
    <limit effort="10" velocity="10" lower="-1.5708" upper="1.5708"/>
  </joint>
  <!-- Link hip_assembly_4 -->
  <link name="hip_assembly_4">
    <inertial>
      <origin xyz="0.0268487 0.000325484 -0.0302141" rpy="0 0 0"/>
      <mass value="0.365356"/>
      <inertia ixx="0.000168136" ixy="-2.8417e-07" ixz="-3.2467e-06" iyy="0.000312332" iyz="9.42575e-07" izz="0.000312341"/>
    </inertial>
    <!-- Part hip_4 -->
    <visual>
      <origin xyz="0.0575 0.0005 -0.0045" rpy="-9.16127e-16 -8.9318e-16 -3.14159"/>
      <geometry>
        <mesh filename="package://meshes\hip.stl"/>
      </geometry>
      <material name="hip_4_material">
        <color rgba="0.282353 0.54902 0.160784 1"/>
      </material>
    </visual>
    <collision>
      <origin xyz="0.0575 0.0005 -0.0045" rpy="-9.16127e-16 -8.9318e-16 -3.14159"/>
      <geometry>
        <mesh filename="package://meshes\hip.stl"/>
      </geometry>
    </collision>
    <!-- Part mobile_bracket_13 -->
    <visual>
      <origin xyz="0.0575 1.43742e-13 -0.0305" rpy="-6.76543e-16 -1.05045e-15 -1.5708"/>
      <geometry>
        <mesh filename="package://meshes\mobile_bracket.stl"/>
      </geometry>
      <material name="mobile_bracket_13_material">
        <color rgba="0.647059 0.647059 0.647059 1"/>
      </material>
    </visual>
    <collision>
      <origin xyz="0.0575 1.43742e-13 -0.0305" rpy="-6.76543e-16 -1.05045e-15 -1.5708"/>
      <geometry>
        <mesh filename="package://meshes\mobile_bracket.stl"/>
      </geometry>
    </collision>
    <!-- Part servo_wheel_19 -->
    <visual>
      <origin xyz="0 -4.33681e-19 -0.0025" rpy="3.14159 -1.78474e-16 -3.14159"/>
      <geometry>
        <mesh filename="package://meshes\servo_wheel.stl"/>
      </geometry>
      <material name="servo_wheel_19_material">
        <color rgba="0.647059 0.647059 0.647059 1"/>
      </material>
    </visual>
    <collision>
      <origin xyz="0 -4.33681e-19 -0.0025" rpy="3.14159 -1.78474e-16 -3.14159"/>
      <geometry>
        <mesh filename="package://meshes\servo_wheel.stl"/>
      </geometry>
    </collision>
    <!-- Part servo_10 -->
    <visual>
      <origin xyz="0.0175 0.00140442 -0.0305" rpy="3.14159 -1.78474e-16 -3.14159"/>
      <geometry>
        <mesh filename="package://meshes\servo.stl"/>
      </geometry>
      <material name="servo_10_material">
        <color rgba="0.109804 0.109804 0.105882 1"/>
      </material>
    </visual>
    <collision>
      <origin xyz="0.0175 0.00140442 -0.0305" rpy="3.14159 -1.78474e-16 -3.14159"/>
      <geometry>
        <mesh filename="package://meshes\servo.stl"/>
      </geometry>
    </collision>
    <!-- Part fixed_bracket_10 -->
    <visual>
      <origin xyz="0.0575 1.43742e-13 -0.0305" rpy="-1.5708 1.5708 0"/>
      <geometry>
        <mesh filename="package://meshes\fixed_bracket.stl"/>
      </geometry>
      <material name="fixed_bracket_10_material">
        <color rgba="0.647059 0.647059 0.647059 1"/>
      </material>
    </visual>
    <collision>
      <origin xyz="0.0575 1.43742e-13 -0.0305" rpy="-1.5708 1.5708 0"/>
      <geometry>
        <mesh filename="package://meshes\fixed_bracket.stl"/>
      </geometry>
    </collision>
    <!-- Part servo_wheel_20 -->
    <visual>
      <origin xyz="0 -9.1073e-18 -0.0585" rpy="3.14159 -1.78474e-16 -3.14159"/>
      <geometry>
        <mesh filename="package://meshes\servo_wheel.stl"/>
      </geometry>
      <material name="servo_wheel_20_material">
        <color rgba="0.647059 0.647059 0.647059 1"/>
      </material>
    </visual>
    <collision>
      <origin xyz="0 -9.1073e-18 -0.0585" rpy="3.14159 -1.78474e-16 -3.14159"/>
      <geometry>
        <mesh filename="package://meshes\servo_wheel.stl"/>
      </geometry>
    </collision>
  </link>
  <!-- Link ties_assembly_4 -->
  <link name="ties_assembly_4">
    <inertial>
      <origin xyz="0.0643598 0.00153088 -0.0309357" rpy="0 0 0"/>
      <mass value="0.589115"/>
      <inertia ixx="0.000320336" ixy="-2.41497e-05" ixz="1.07866e-05" iyy="0.00208685" iyz="2.0947e-07" izz="0.00187002"/>
    </inertial>
    <!-- Part mobile_bracket_14 -->
    <visual>
      <origin xyz="0.1568 0.000210323 -0.0311738" rpy="1.5708 1.5708 0"/>
      <geometry>
        <mesh filename="package://meshes\mobile_bracket.stl"/>
      </geometry>
      <material name="mobile_bracket_14_material">
        <color rgba="0.647059 0.647059 0.647059 1"/>
      </material>
    </visual>
    <collision>
      <origin xyz="0.1568 0.000210323 -0.0311738" rpy="1.5708 1.5708 0"/>
      <geometry>
        <mesh filename="package://meshes\mobile_bracket.stl"/>
      </geometry>
    </collision>
    <!-- Part low_tie_4 -->
    <visual>
      <origin xyz="0.0268 0.000210323 -0.0311738" rpy="-1.07587e-14 1.5708 0"/>
      <geometry>
        <mesh filename="package://meshes\low_tie.stl"/>
      </geometry>
      <material name="low_tie_4_material">
        <color rgba="0.282353 0.54902 0.160784 1"/>
      </material>
    </visual>
    <collision>
      <origin xyz="0.0268 0.000210323 -0.0311738" rpy="-1.07587e-14 1.5708 0"/>
      <geometry>
        <mesh filename="package://meshes\low_tie.stl"/>
      </geometry>
    </collision>
    <!-- Part top_tie_4 -->
    <visual>
      <origin xyz="0.0275 2.91434e-16 -0.0305" rpy="-1.07587e-14 1.5708 0"/>
      <geometry>
        <mesh filename="package://meshes\top_tie.stl"/>
      </geometry>
      <material name="top_tie_4_material">
        <color rgba="0.282353 0.54902 0.160784 1"/>
      </material>
    </visual>
    <collision>
      <origin xyz="0.0275 2.91434e-16 -0.0305" rpy="-1.07587e-14 1.5708 0"/>
      <geometry>
        <mesh filename="package://meshes\top_tie.stl"/>
      </geometry>
    </collision>
    <!-- Part servo_wheel_21 -->
    <visual>
      <origin xyz="-2.77556e-17 0 -0.0025" rpy="3.14159 -1.88765e-14 -3.14159"/>
      <geometry>
        <mesh filename="package://meshes\servo_wheel.stl"/>
      </geometry>
      <material name="servo_wheel_21_material">
        <color rgba="0.647059 0.647059 0.647059 1"/>
      </material>
    </visual>
    <collision>
      <origin xyz="-2.77556e-17 0 -0.0025" rpy="3.14159 -1.88765e-14 -3.14159"/>
      <geometry>
        <mesh filename="package://meshes\servo_wheel.stl"/>
      </geometry>
    </collision>
    <!-- Part servo_11 -->
    <visual>
      <origin xyz="0.0175 0.00140442 -0.0305" rpy="3.14159 -1.89012e-14 -3.14159"/>
      <geometry>
        <mesh filename="package://meshes\servo.stl"/>
      </geometry>
      <material name="servo_11_material">
        <color rgba="0.109804 0.109804 0.105882 1"/>
      </material>
    </visual>
    <collision>
      <origin xyz="0.0175 0.00140442 -0.0305" rpy="3.14159 -1.89012e-14 -3.14159"/>
      <geometry>
        <mesh filename="package://meshes\servo.stl"/>
      </geometry>
    </collision>
    <!-- Part fixed_bracket_11 -->
    <visual>
      <origin xyz="0.0575 6.10623e-16 -0.0305" rpy="-1.5708 1.5708 0"/>
      <geometry>
        <mesh filename="package://meshes\fixed_bracket.stl"/>
      </geometry>
      <material name="fixed_bracket_11_material">
        <color rgba="0.647059 0.647059 0.647059 1"/>
      </material>
    </visual>
    <collision>
      <origin xyz="0.0575 6.10623e-16 -0.0305" rpy="-1.5708 1.5708 0"/>
      <geometry>
        <mesh filename="package://meshes\fixed_bracket.stl"/>
      </geometry>
    </collision>
    <!-- Part servo_wheel_22 -->
    <visual>
      <origin xyz="-1.05471e-15 0 -0.0585" rpy="3.14159 -1.89304e-14 -3.14159"/>
      <geometry>
        <mesh filename="package://meshes\servo_wheel.stl"/>
      </geometry>
      <material name="servo_wheel_22_material">
        <color rgba="0.647059 0.647059 0.647059 1"/>
      </material>
    </visual>
    <collision>
      <origin xyz="-1.05471e-15 0 -0.0585" rpy="3.14159 -1.89304e-14 -3.14159"/>
      <geometry>
        <mesh filename="package://meshes\servo_wheel.stl"/>
      </geometry>
    </collision>
  </link>
  <!-- Link foot_assembly_4 -->
  <link name="foot_assembly_4">
    <inertial>
      <origin xyz="-0.0724503 -0.00208415 -0.0306672" rpy="0 0 0"/>
      <mass value="0.633745"/>
      <inertia ixx="0.000268495" ixy="-1.4806e-05" ixz="4.28294e-06" iyy="0.00320961" iyz="-2.30165e-07" izz="0.00304658"/>
    </inertial>
    <!-- Part foot_4 -->
    <visual>
      <origin xyz="-0.04425 6.93889e-18 -0.0305" rpy="1.8304e-30 1.5708 0"/>
      <geometry>
        <mesh filename="package://meshes\foot.stl"/>
      </geometry>
      <material name="foot_4_material">
        <color rgba="0.282353 0.54902 0.160784 1"/>
      </material>
    </visual>
    <collision>
      <origin xyz="-0.04425 6.93889e-18 -0.0305" rpy="1.8304e-30 1.5708 0"/>
      <geometry>
        <mesh filename="package://meshes\foot.stl"/>
      </geometry>
    </collision>
    <!-- Part ir_sensor_cap_4 -->
    <visual>
      <origin xyz="-0.04425 1.14492e-16 -0.0305" rpy="-2.3615e-16 1.5708 0"/>
      <geometry>
        <mesh filename="package://meshes\ir_sensor_cap.stl"/>
      </geometry>
      <material name="ir_sensor_cap_4_material">
        <color rgba="0.282353 0.54902 0.160784 1"/>
      </material>
    </visual>
    <collision>
      <origin xyz="-0.04425 1.14492e-16 -0.0305" rpy="-2.3615e-16 1.5708 0"/>
      <geometry>
        <mesh filename="package://meshes\ir_sensor_cap.stl"/>
      </geometry>
    </collision>
    <!-- Part rubber_foot_4 -->
    <visual>
      <origin xyz="-0.04375 1.49533e-15 -0.03" rpy="-7.03592e-15 1.5708 0"/>
      <geometry>
        <mesh filename="package://meshes\rubber_foot.stl"/>
      </geometry>
      <material name="rubber_foot_4_material">
        <color rgba="0.262745 0.282353 0.301961 1"/>
      </material>
    </visual>
    <collision>
      <origin xyz="-0.04375 1.49533e-15 -0.03" rpy="-7.03592e-15 1.5708 0"/>
      <geometry>
        <mesh filename="package://meshes\rubber_foot.stl"/>
      </geometry>
    </collision>
    <!-- Part servo_wheel_23 -->
    <visual>
      <origin xyz="-5.55112e-17 0 -0.0025" rpy="-3.14159 5.32981e-17 4.48048e-30"/>
      <geometry>
        <mesh filename="package://meshes\servo_wheel.stl"/>
      </geometry>
      <material name="servo_wheel_23_material">
        <color rgba="0.647059 0.647059 0.647059 1"/>
      </material>
    </visual>
    <collision>
      <origin xyz="-5.55112e-17 0 -0.0025" rpy="-3.14159 5.32981e-17 4.48048e-30"/>
      <geometry>
        <mesh filename="package://meshes\servo_wheel.stl"/>
      </geometry>
    </collision>
    <!-- Part servo_12 -->
    <visual>
      <origin xyz="-0.0175 -0.00140442 -0.0305" rpy="3.14159 2.89927e-17 1.32504e-30"/>
      <geometry>
        <mesh filename="package://meshes\servo.stl"/>
      </geometry>
      <material name="servo_12_material">
        <color rgba="0.109804 0.109804 0.105882 1"/>
      </material>
    </visual>
    <collision>
      <origin xyz="-0.0175 -0.00140442 -0.0305" rpy="3.14159 2.89927e-17 1.32504e-30"/>
      <geometry>
        <mesh filename="package://meshes\servo.stl"/>
      </geometry>
    </collision>
    <!-- Part fixed_bracket_12 -->
    <visual>
      <origin xyz="-0.0575 6.93889e-18 -0.0305" rpy="1.5708 1.5708 0"/>
      <geometry>
        <mesh filename="package://meshes\fixed_bracket.stl"/>
      </geometry>
      <material name="fixed_bracket_12_material">
        <color rgba="0.647059 0.647059 0.647059 1"/>
      </material>
    </visual>
    <collision>
      <origin xyz="-0.0575 6.93889e-18 -0.0305" rpy="1.5708 1.5708 0"/>
      <geometry>
        <mesh filename="package://meshes\fixed_bracket.stl"/>
      </geometry>
    </collision>
    <!-- Part servo_wheel_24 -->
    <visual>
      <origin xyz="-5.55112e-17 0 -0.0585" rpy="-3.14159 4.10941e-17 1.32504e-30"/>
      <geometry>
        <mesh filename="package://meshes\servo_wheel.stl"/>
      </geometry>
      <material name="servo_wheel_24_material">
        <color rgba="0.647059 0.647059 0.647059 1"/>
      </material>
    </visual>
    <collision>
      <origin xyz="-5.55112e-17 0 -0.0585" rpy="-3.14159 4.10941e-17 1.32504e-30"/>
      <geometry>
        <mesh filename="package://meshes\servo_wheel.stl"/>
      </geometry>
    </collision>
  </link>
  <!-- Joint from ties_assembly_4 to foot_assembly_4 -->
  <joint name="foot_4" type="revolute">
    <origin xyz="0.1918 0.000210323 -0.000790548" rpy="-1.34033e-15 3.08383e-16 -3.14159"/>
    <parent link="ties_assembly_4"/>
    <child link="foot_assembly_4"/>
    <axis xyz="0 0 1"/>
    <limit effort="10" velocity="10" lower="-2.0944" upper="2.0944"/>
  </joint>
  <!-- Joint from hip_assembly_4 to ties_assembly_4 -->
  <joint name="ties_4" type="revolute">
    <origin xyz="0.0925 -0.0311167 -0.0305" rpy="1.5708 6.76543e-16 2.49947e-12"/>
    <parent link="hip_assembly_4"/>
    <child link="ties_assembly_4"/>
    <axis xyz="0 0 1"/>
    <limit effort="10" velocity="10" lower="-1.74533" upper="1.74533"/>
  </joint>
  <!-- Joint from base_link to hip_assembly_4 -->
  <joint name="hip_4" type="revolute">
    <origin xyz="-0.137228 -0.0604678 0.0142242" rpy="2.50355e-14 2.47371e-14 -2.70526"/>
    <parent link="base_link"/>
    <child link="hip_assembly_4"/>
    <axis xyz="0 0 1"/>
    <limit effort="10" velocity="10" lower="-1.5708" upper="1.5708"/>
  </joint>
  <!-- Link hip_assembly_5 -->
  <link name="hip_assembly_5">
    <inertial>
      <origin xyz="0.0268487 0.000325484 -0.0302141" rpy="0 0 0"/>
      <mass value="0.365356"/>
      <inertia ixx="0.000168136" ixy="-2.8417e-07" ixz="-3.2467e-06" iyy="0.000312332" iyz="9.42575e-07" izz="0.000312341"/>
    </inertial>
    <!-- Part hip_5 -->
    <visual>
      <origin xyz="0.0575 0.0005 -0.0045" rpy="1.42399e-14 -5.4278e-16 -3.14159"/>
      <geometry>
        <mesh filename="package://meshes\hip.stl"/>
      </geometry>
      <material name="hip_5_material">
        <color rgba="0.282353 0.54902 0.160784 1"/>
      </material>
    </visual>
    <collision>
      <origin xyz="0.0575 0.0005 -0.0045" rpy="1.42399e-14 -5.4278e-16 -3.14159"/>
      <geometry>
        <mesh filename="package://meshes\hip.stl"/>
      </geometry>
    </collision>
    <!-- Part mobile_bracket_15 -->
    <visual>
      <origin xyz="0.0575 1.43449e-13 -0.0305" rpy="-5.4278e-16 -6.10986e-15 -1.5708"/>
      <geometry>
        <mesh filename="package://meshes\mobile_bracket.stl"/>
      </geometry>
      <material name="mobile_bracket_15_material">
        <color rgba="0.647059 0.647059 0.647059 1"/>
      </material>
    </visual>
    <collision>
      <origin xyz="0.0575 1.43449e-13 -0.0305" rpy="-5.4278e-16 -6.10986e-15 -1.5708"/>
      <geometry>
        <mesh filename="package://meshes\mobile_bracket.stl"/>
      </geometry>
    </collision>
    <!-- Part servo_wheel_25 -->
    <visual>
      <origin xyz="-2.77556e-17 1.73472e-18 -0.0025" rpy="-3.14159 -5.4278e-16 -3.14159"/>
      <geometry>
        <mesh filename="package://meshes\servo_wheel.stl"/>
      </geometry>
      <material name="servo_wheel_25_material">
        <color rgba="0.647059 0.647059 0.647059 1"/>
      </material>
    </visual>
    <collision>
      <origin xyz="-2.77556e-17 1.73472e-18 -0.0025" rpy="-3.14159 -5.4278e-16 -3.14159"/>
      <geometry>
        <mesh filename="package://meshes\servo_wheel.stl"/>
      </geometry>
    </collision>
    <!-- Part servo_13 -->
    <visual>
      <origin xyz="0.0175 0.00140442 -0.0305" rpy="-3.14159 -5.4278e-16 -3.14159"/>
      <geometry>
        <mesh filename="package://meshes\servo.stl"/>
      </geometry>
      <material name="servo_13_material">
        <color rgba="0.109804 0.109804 0.105882 1"/>
      </material>
    </visual>
    <collision>
      <origin xyz="0.0175 0.00140442 -0.0305" rpy="-3.14159 -5.4278e-16 -3.14159"/>
      <geometry>
        <mesh filename="package://meshes\servo.stl"/>
      </geometry>
    </collision>
    <!-- Part fixed_bracket_13 -->
    <visual>
      <origin xyz="0.0575 1.43449e-13 -0.0305" rpy="-1.5708 1.5708 0"/>
      <geometry>
        <mesh filename="package://meshes\fixed_bracket.stl"/>
      </geometry>
      <material name="fixed_bracket_13_material">
        <color rgba="0.647059 0.647059 0.647059 1"/>
      </material>
    </visual>
    <collision>
      <origin xyz="0.0575 1.43449e-13 -0.0305" rpy="-1.5708 1.5708 0"/>
      <geometry>
        <mesh filename="package://meshes\fixed_bracket.stl"/>
      </geometry>
    </collision>
    <!-- Part servo_wheel_26 -->
    <visual>
      <origin xyz="-1.94289e-16 -9.54098e-18 -0.0585" rpy="-3.14159 -5.4278e-16 -3.14159"/>
      <geometry>
        <mesh filename="package://meshes\servo_wheel.stl"/>
      </geometry>
      <material name="servo_wheel_26_material">
        <color rgba="0.647059 0.647059 0.647059 1"/>
      </material>
    </visual>
    <collision>
      <origin xyz="-1.94289e-16 -9.54098e-18 -0.0585" rpy="-3.14159 -5.4278e-16 -3.14159"/>
      <geometry>
        <mesh filename="package://meshes\servo_wheel.stl"/>
      </geometry>
    </collision>
  </link>
  <!-- Link ties_assembly_5 -->
  <link name="ties_assembly_5">
    <inertial>
      <origin xyz="0.0643598 0.00153088 -0.0309357" rpy="0 0 0"/>
      <mass value="0.589115"/>
      <inertia ixx="0.000320336" ixy="-2.41497e-05" ixz="1.07866e-05" iyy="0.00208685" iyz="2.0947e-07" izz="0.00187002"/>
    </inertial>
    <!-- Part mobile_bracket_16 -->
    <visual>
      <origin xyz="0.1568 0.000210323 -0.0311738" rpy="1.5708 1.5708 0"/>
      <geometry>
        <mesh filename="package://meshes\mobile_bracket.stl"/>
      </geometry>
      <material name="mobile_bracket_16_material">
        <color rgba="0.647059 0.647059 0.647059 1"/>
      </material>
    </visual>
    <collision>
      <origin xyz="0.1568 0.000210323 -0.0311738" rpy="1.5708 1.5708 0"/>
      <geometry>
        <mesh filename="package://meshes\mobile_bracket.stl"/>
      </geometry>
    </collision>
    <!-- Part low_tie_5 -->
    <visual>
      <origin xyz="0.0268 0.000210323 -0.0311738" rpy="-1.37527e-15 1.5708 0"/>
      <geometry>
        <mesh filename="package://meshes\low_tie.stl"/>
      </geometry>
      <material name="low_tie_5_material">
        <color rgba="0.282353 0.54902 0.160784 1"/>
      </material>
    </visual>
    <collision>
      <origin xyz="0.0268 0.000210323 -0.0311738" rpy="-1.37527e-15 1.5708 0"/>
      <geometry>
        <mesh filename="package://meshes\low_tie.stl"/>
      </geometry>
    </collision>
    <!-- Part top_tie_5 -->
    <visual>
      <origin xyz="0.0275 2.77556e-17 -0.0305" rpy="-1.37527e-15 1.5708 0"/>
      <geometry>
        <mesh filename="package://meshes\top_tie.stl"/>
      </geometry>
      <material name="top_tie_5_material">
        <color rgba="0.282353 0.54902 0.160784 1"/>
      </material>
    </visual>
    <collision>
      <origin xyz="0.0275 2.77556e-17 -0.0305" rpy="-1.37527e-15 1.5708 0"/>
      <geometry>
        <mesh filename="package://meshes\top_tie.stl"/>
      </geometry>
    </collision>
    <!-- Part servo_wheel_27 -->
    <visual>
      <origin xyz="5.55112e-17 -3.46945e-18 -0.0025" rpy="3.14159 8.06031e-14 -3.14159"/>
      <geometry>
        <mesh filename="package://meshes\servo_wheel.stl"/>
      </geometry>
      <material name="servo_wheel_27_material">
        <color rgba="0.647059 0.647059 0.647059 1"/>
      </material>
    </visual>
    <collision>
      <origin xyz="5.55112e-17 -3.46945e-18 -0.0025" rpy="3.14159 8.06031e-14 -3.14159"/>
      <geometry>
        <mesh filename="package://meshes\servo_wheel.stl"/>
      </geometry>
    </collision>
    <!-- Part servo_14 -->
    <visual>
      <origin xyz="0.0175 0.00140442 -0.0305" rpy="3.14159 8.057e-14 -3.14159"/>
      <geometry>
        <mesh filename="package://meshes\servo.stl"/>
      </geometry>
      <material name="servo_14_material">
        <color rgba="0.109804 0.109804 0.105882 1"/>
      </material>
    </visual>
    <collision>
      <origin xyz="0.0175 0.00140442 -0.0305" rpy="3.14159 8.057e-14 -3.14159"/>
      <geometry>
        <mesh filename="package://meshes\servo.stl"/>
      </geometry>
    </collision>
    <!-- Part fixed_bracket_14 -->
    <visual>
      <origin xyz="0.0575 6.93889e-17 -0.0305" rpy="-1.5708 1.5708 0"/>
      <geometry>
        <mesh filename="package://meshes\fixed_bracket.stl"/>
      </geometry>
      <material name="fixed_bracket_14_material">
        <color rgba="0.647059 0.647059 0.647059 1"/>
      </material>
    </visual>
    <collision>
      <origin xyz="0.0575 6.93889e-17 -0.0305" rpy="-1.5708 1.5708 0"/>
      <geometry>
        <mesh filename="package://meshes\fixed_bracket.stl"/>
      </geometry>
    </collision>
    <!-- Part servo_wheel_28 -->
    <visual>
      <origin xyz="4.27436e-15 -6.93889e-18 -0.0585" rpy="3.14159 8.07177e-14 -3.14159"/>
      <geometry>
        <mesh filename="package://meshes\servo_wheel.stl"/>
      </geometry>
      <material name="servo_wheel_28_material">
        <color rgba="0.647059 0.647059 0.647059 1"/>
      </material>
    </visual>
    <collision>
      <origin xyz="4.27436e-15 -6.93889e-18 -0.0585" rpy="3.14159 8.07177e-14 -3.14159"/>
      <geometry>
        <mesh filename="package://meshes\servo_wheel.stl"/>
      </geometry>
    </collision>
  </link>
  <!-- Link foot_assembly_5 -->
  <link name="foot_assembly_5">
    <inertial>
      <origin xyz="-0.0724503 -0.00208415 -0.0306672" rpy="0 0 0"/>
      <mass value="0.633745"/>
      <inertia ixx="0.000268495" ixy="-1.4806e-05" ixz="4.28294e-06" iyy="0.00320961" iyz="-2.30165e-07" izz="0.00304658"/>
    </inertial>
    <!-- Part foot_5 -->
    <visual>
      <origin xyz="-0.04425 1.04083e-17 -0.0305" rpy="-4.1271e-30 1.5708 0"/>
      <geometry>
        <mesh filename="package://meshes\foot.stl"/>
      </geometry>
      <material name="foot_5_material">
        <color rgba="0.282353 0.54902 0.160784 1"/>
      </material>
    </visual>
    <collision>
      <origin xyz="-0.04425 1.04083e-17 -0.0305" rpy="-4.1271e-30 1.5708 0"/>
      <geometry>
        <mesh filename="package://meshes\foot.stl"/>
      </geometry>
    </collision>
    <!-- Part ir_sensor_cap_5 -->
    <visual>
      <origin xyz="-0.04425 -1.97758e-16 -0.0305" rpy="-1.2385e-15 1.5708 0"/>
      <geometry>
        <mesh filename="package://meshes\ir_sensor_cap.stl"/>
      </geometry>
      <material name="ir_sensor_cap_5_material">
        <color rgba="0.282353 0.54902 0.160784 1"/>
      </material>
    </visual>
    <collision>
      <origin xyz="-0.04425 -1.97758e-16 -0.0305" rpy="-1.2385e-15 1.5708 0"/>
      <geometry>
        <mesh filename="package://meshes\ir_sensor_cap.stl"/>
      </geometry>
    </collision>
    <!-- Part rubber_foot_5 -->
    <visual>
      <origin xyz="-0.04375 2.39392e-16 -0.03" rpy="-5.97428e-16 1.5708 0"/>
      <geometry>
        <mesh filename="package://meshes\rubber_foot.stl"/>
      </geometry>
      <material name="rubber_foot_5_material">
        <color rgba="0.262745 0.282353 0.301961 1"/>
      </material>
    </visual>
    <collision>
      <origin xyz="-0.04375 2.39392e-16 -0.03" rpy="-5.97428e-16 1.5708 0"/>
      <geometry>
        <mesh filename="package://meshes\rubber_foot.stl"/>
      </geometry>
    </collision>
    <!-- Part servo_wheel_29 -->
    <visual>
      <origin xyz="1.11022e-16 3.46945e-18 -0.0025" rpy="-3.14159 6.72739e-19 4.1271e-30"/>
      <geometry>
        <mesh filename="package://meshes\servo_wheel.stl"/>
      </geometry>
      <material name="servo_wheel_29_material">
        <color rgba="0.647059 0.647059 0.647059 1"/>
      </material>
    </visual>
    <collision>
      <origin xyz="1.11022e-16 3.46945e-18 -0.0025" rpy="-3.14159 6.72739e-19 4.1271e-30"/>
      <geometry>
        <mesh filename="package://meshes\servo_wheel.stl"/>
      </geometry>
    </collision>
    <!-- Part servo_15 -->
    <visual>
      <origin xyz="-0.0175 -0.00140442 -0.0305" rpy="3.14159 -1.30444e-16 1.0438e-29"/>
      <geometry>
        <mesh filename="package://meshes\servo.stl"/>
      </geometry>
      <material name="servo_15_material">
        <color rgba="0.109804 0.109804 0.105882 1"/>
      </material>
    </visual>
    <collision>
      <origin xyz="-0.0175 -0.00140442 -0.0305" rpy="3.14159 -1.30444e-16 1.0438e-29"/>
      <geometry>
        <mesh filename="package://meshes\servo.stl"/>
      </geometry>
    </collision>
    <!-- Part fixed_bracket_15 -->
    <visual>
      <origin xyz="-0.0575 1.38778e-17 -0.0305" rpy="1.5708 1.5708 0"/>
      <geometry>
        <mesh filename="package://meshes\fixed_bracket.stl"/>
      </geometry>
      <material name="fixed_bracket_15_material">
        <color rgba="0.647059 0.647059 0.647059 1"/>
      </material>
    </visual>
    <collision>
      <origin xyz="-0.0575 1.38778e-17 -0.0305" rpy="1.5708 1.5708 0"/>
      <geometry>
        <mesh filename="package://meshes\fixed_bracket.stl"/>
      </geometry>
    </collision>
    <!-- Part servo_wheel_30 -->
    <visual>
      <origin xyz="-1.83187e-15 6.93889e-18 -0.0585" rpy="3.14159 -5.48546e-17 1.67489e-29"/>
      <geometry>
        <mesh filename="package://meshes\servo_wheel.stl"/>
      </geometry>
      <material name="servo_wheel_30_material">
        <color rgba="0.647059 0.647059 0.647059 1"/>
      </material>
    </visual>
    <collision>
      <origin xyz="-1.83187e-15 6.93889e-18 -0.0585" rpy="3.14159 -5.48546e-17 1.67489e-29"/>
      <geometry>
        <mesh filename="package://meshes\servo_wheel.stl"/>
      </geometry>
    </collision>
  </link>
  <!-- Joint from ties_assembly_5 to foot_assembly_5 -->
  <joint name="foot_5" type="revolute">
    <origin xyz="0.1918 0.000210323 -0.000790548" rpy="3.64523e-14 3.95047e-14 3.14159"/>
    <parent link="ties_assembly_5"/>
    <child link="foot_assembly_5"/>
    <axis xyz="0 0 1"/>
    <limit effort="10" velocity="10" lower="-2.0944" upper="2.0944"/>
  </joint>
  <!-- Joint from hip_assembly_5 to ties_assembly_5 -->
  <joint name="ties_5" type="revolute">
    <origin xyz="0.0925 -0.0311167 -0.0305" rpy="1.5708 5.4278e-16 2.49541e-12"/>
    <parent link="hip_assembly_5"/>
    <child link="ties_assembly_5"/>
    <axis xyz="0 0 1"/>
    <limit effort="10" velocity="10" lower="-1.74533" upper="1.74533"/>
  </joint>
  <!-- Joint from base_link to hip_assembly_5 -->
  <joint name="hip_5" type="revolute">
    <origin xyz="-0.123979 0.0909708 0.0142242" rpy="7.95355e-15 3.42754e-14 2.53073"/>
    <parent link="base_link"/>
    <child link="hip_assembly_5"/>
    <axis xyz="0 0 1"/>
    <limit effort="10" velocity="10" lower="-1.5708" upper="1.5708"/>
  </joint>
  <!-- Link hip_assembly_6 -->
  <link name="hip_assembly_6">
    <inertial>
      <origin xyz="0.0268487 0.000325484 -0.0302141" rpy="0 0 0"/>
      <mass value="0.365356"/>
      <inertia ixx="0.000168136" ixy="-2.8417e-07" ixz="-3.2467e-06" iyy="0.000312332" iyz="9.42575e-07" izz="0.000312341"/>
    </inertial>
    <!-- Part hip_6 -->
    <visual>
      <origin xyz="0.0575 0.0005 -0.0045" rpy="1.10074e-14 -9.78685e-15 -3.14159"/>
      <geometry>
        <mesh filename="package://meshes\hip.stl"/>
      </geometry>
      <material name="hip_6_material">
        <color rgba="0.282353 0.54902 0.160784 1"/>
      </material>
    </visual>
    <collision>
      <origin xyz="0.0575 0.0005 -0.0045" rpy="1.10074e-14 -9.78685e-15 -3.14159"/>
      <geometry>
        <mesh filename="package://meshes\hip.stl"/>
      </geometry>
    </collision>
    <!-- Part mobile_bracket_17 -->
    <visual>
      <origin xyz="0.0575 1.43598e-13 -0.0305" rpy="-7.98949e-15 -1.55507e-14 -1.5708"/>
      <geometry>
        <mesh filename="package://meshes\mobile_bracket.stl"/>
      </geometry>
      <material name="mobile_bracket_17_material">
        <color rgba="0.647059 0.647059 0.647059 1"/>
      </material>
    </visual>
    <collision>
      <origin xyz="0.0575 1.43598e-13 -0.0305" rpy="-7.98949e-15 -1.55507e-14 -1.5708"/>
      <geometry>
        <mesh filename="package://meshes\mobile_bracket.stl"/>
      </geometry>
    </collision>
    <!-- Part servo_wheel_31 -->
    <visual>
      <origin xyz="0 -1.92446e-18 -0.0025" rpy="-3.14159 -9.20409e-15 -3.14159"/>
      <geometry>
        <mesh filename="package://meshes\servo_wheel.stl"/>
      </geometry>
      <material name="servo_wheel_31_material">
        <color rgba="0.647059 0.647059 0.647059 1"/>
      </material>
    </visual>
    <collision>
      <origin xyz="0 -1.92446e-18 -0.0025" rpy="-3.14159 -9.20409e-15 -3.14159"/>
      <geometry>
        <mesh filename="package://meshes\servo_wheel.stl"/>
      </geometry>
    </collision>
    <!-- Part servo_16 -->
    <visual>
      <origin xyz="0.0175 0.00140442 -0.0305" rpy="-3.14159 -8.00272e-15 -3.14159"/>
      <geometry>
        <mesh filename="package://meshes\servo.stl"/>
      </geometry>
      <material name="servo_16_material">
        <color rgba="0.109804 0.109804 0.105882 1"/>
      </material>
    </visual>
    <collision>
      <origin xyz="0.0175 0.00140442 -0.0305" rpy="-3.14159 -8.00272e-15 -3.14159"/>
      <geometry>
        <mesh filename="package://meshes\servo.stl"/>
      </geometry>
    </collision>
    <!-- Part fixed_bracket_16 -->
    <visual>
      <origin xyz="0.0575 1.43598e-13 -0.0305" rpy="-1.5708 1.5708 0"/>
      <geometry>
        <mesh filename="package://meshes\fixed_bracket.stl"/>
      </geometry>
      <material name="fixed_bracket_16_material">
        <color rgba="0.647059 0.647059 0.647059 1"/>
      </material>
    </visual>
    <collision>
      <origin xyz="0.0575 1.43598e-13 -0.0305" rpy="-1.5708 1.5708 0"/>
      <geometry>
        <mesh filename="package://meshes\fixed_bracket.stl"/>
      </geometry>
    </collision>
    <!-- Part servo_wheel_32 -->
    <visual>
      <origin xyz="5.55112e-17 6.88468e-18 -0.0585" rpy="-3.14159 -8.80211e-15 -3.14159"/>
      <geometry>
        <mesh filename="package://meshes\servo_wheel.stl"/>
      </geometry>
      <material name="servo_wheel_32_material">
        <color rgba="0.647059 0.647059 0.647059 1"/>
      </material>
    </visual>
    <collision>
      <origin xyz="5.55112e-17 6.88468e-18 -0.0585" rpy="-3.14159 -8.80211e-15 -3.14159"/>
      <geometry>
        <mesh filename="package://meshes\servo_wheel.stl"/>
      </geometry>
    </collision>
  </link>
  <!-- Link ties_assembly_6 -->
  <link name="ties_assembly_6">
    <inertial>
      <origin xyz="0.0643598 0.00153088 -0.0309357" rpy="0 0 0"/>
      <mass value="0.589115"/>
      <inertia ixx="0.000320336" ixy="-2.41497e-05" ixz="1.07866e-05" iyy="0.00208685" iyz="2.0947e-07" izz="0.00187002"/>
    </inertial>
    <!-- Part mobile_bracket_18 -->
    <visual>
      <origin xyz="0.1568 0.000210323 -0.0311738" rpy="1.5708 1.5708 0"/>
      <geometry>
        <mesh filename="package://meshes\mobile_bracket.stl"/>
      </geometry>
      <material name="mobile_bracket_18_material">
        <color rgba="0.647059 0.647059 0.647059 1"/>
      </material>
    </visual>
    <collision>
      <origin xyz="0.1568 0.000210323 -0.0311738" rpy="1.5708 1.5708 0"/>
      <geometry>
        <mesh filename="package://meshes\mobile_bracket.stl"/>
      </geometry>
    </collision>
    <!-- Part low_tie_6 -->
    <visual>
      <origin xyz="0.0268 0.000210323 -0.0311738" rpy="1.14117e-15 1.5708 0"/>
      <geometry>
        <mesh filename="package://meshes\low_tie.stl"/>
      </geometry>
      <material name="low_tie_6_material">
        <color rgba="0.282353 0.54902 0.160784 1"/>
      </material>
    </visual>
    <collision>
      <origin xyz="0.0268 0.000210323 -0.0311738" rpy="1.14117e-15 1.5708 0"/>
      <geometry>
        <mesh filename="package://meshes\low_tie.stl"/>
      </geometry>
    </collision>
    <!-- Part top_tie_6 -->
    <visual>
      <origin xyz="0.0275 -3.81639e-17 -0.0305" rpy="1.14117e-15 1.5708 0"/>
      <geometry>
        <mesh filename="package://meshes\top_tie.stl"/>
      </geometry>
      <material name="top_tie_6_material">
        <color rgba="0.282353 0.54902 0.160784 1"/>
      </material>
    </visual>
    <collision>
      <origin xyz="0.0275 -3.81639e-17 -0.0305" rpy="1.14117e-15 1.5708 0"/>
      <geometry>
        <mesh filename="package://meshes\top_tie.stl"/>
      </geometry>
    </collision>
    <!-- Part servo_wheel_33 -->
    <visual>
      <origin xyz="2.77556e-17 -3.46945e-18 -0.0025" rpy="-3.14159 -6.82166e-16 3.14159"/>
      <geometry>
        <mesh filename="package://meshes\servo_wheel.stl"/>
      </geometry>
      <material name="servo_wheel_33_material">
        <color rgba="0.647059 0.647059 0.647059 1"/>
      </material>
    </visual>
    <collision>
      <origin xyz="2.77556e-17 -3.46945e-18 -0.0025" rpy="-3.14159 -6.82166e-16 3.14159"/>
      <geometry>
        <mesh filename="package://meshes\servo_wheel.stl"/>
      </geometry>
    </collision>
    <!-- Part servo_17 -->
    <visual>
      <origin xyz="0.0175 0.00140442 -0.0305" rpy="-3.14159 -1.03204e-15 3.14159"/>
      <geometry>
        <mesh filename="package://meshes\servo.stl"/>
      </geometry>
      <material name="servo_17_material">
        <color rgba="0.109804 0.109804 0.105882 1"/>
      </material>
    </visual>
    <collision>
      <origin xyz="0.0175 0.00140442 -0.0305" rpy="-3.14159 -1.03204e-15 3.14159"/>
      <geometry>
        <mesh filename="package://meshes\servo.stl"/>
      </geometry>
    </collision>
    <!-- Part fixed_bracket_17 -->
    <visual>
      <origin xyz="0.0575 -7.28584e-17 -0.0305" rpy="-1.5708 1.5708 0"/>
      <geometry>
        <mesh filename="package://meshes\fixed_bracket.stl"/>
      </geometry>
      <material name="fixed_bracket_17_material">
        <color rgba="0.647059 0.647059 0.647059 1"/>
      </material>
    </visual>
    <collision>
      <origin xyz="0.0575 -7.28584e-17 -0.0305" rpy="-1.5708 1.5708 0"/>
      <geometry>
        <mesh filename="package://meshes\fixed_bracket.stl"/>
      </geometry>
    </collision>
    <!-- Part servo_wheel_34 -->
    <visual>
      <origin xyz="2.77556e-17 3.46945e-18 -0.0585" rpy="-3.14159 -6.65742e-16 3.14159"/>
      <geometry>
        <mesh filename="package://meshes\servo_wheel.stl"/>
      </geometry>
      <material name="servo_wheel_34_material">
        <color rgba="0.647059 0.647059 0.647059 1"/>
      </material>
    </visual>
    <collision>
      <origin xyz="2.77556e-17 3.46945e-18 -0.0585" rpy="-3.14159 -6.65742e-16 3.14159"/>
      <geometry>
        <mesh filename="package://meshes\servo_wheel.stl"/>
      </geometry>
    </collision>
  </link>
  <!-- Link foot_assembly_6 -->
  <link name="foot_assembly_6">
    <inertial>
      <origin xyz="-0.0724503 -0.00208415 -0.0306672" rpy="0 0 0"/>
      <mass value="0.633745"/>
      <inertia ixx="0.000268495" ixy="-1.4806e-05" ixz="4.28294e-06" iyy="0.00320961" iyz="-2.30165e-07" izz="0.00304658"/>
    </inertial>
    <!-- Part foot_6 -->
    <visual>
      <origin xyz="-0.04425 6.93889e-18 -0.0305" rpy="-2.65723e-30 1.5708 0"/>
      <geometry>
        <mesh filename="package://meshes\foot.stl"/>
      </geometry>
      <material name="foot_6_material">
        <color rgba="0.282353 0.54902 0.160784 1"/>
      </material>
    </visual>
    <collision>
      <origin xyz="-0.04425 6.93889e-18 -0.0305" rpy="-2.65723e-30 1.5708 0"/>
      <geometry>
        <mesh filename="package://meshes\foot.stl"/>
      </geometry>
    </collision>
    <!-- Part ir_sensor_cap_6 -->
    <visual>
      <origin xyz="-0.04425 -4.16334e-16 -0.0305" rpy="3.16268e-15 1.5708 0"/>
      <geometry>
        <mesh filename="package://meshes\ir_sensor_cap.stl"/>
      </geometry>
      <material name="ir_sensor_cap_6_material">
        <color rgba="0.282353 0.54902 0.160784 1"/>
      </material>
    </visual>
    <collision>
      <origin xyz="-0.04425 -4.16334e-16 -0.0305" rpy="3.16268e-15 1.5708 0"/>
      <geometry>
        <mesh filename="package://meshes\ir_sensor_cap.stl"/>
      </geometry>
    </collision>
    <!-- Part rubber_foot_6 -->
    <visual>
      <origin xyz="-0.04375 3.60822e-16 -0.03" rpy="-1.61723e-15 1.5708 0"/>
      <geometry>
        <mesh filename="package://meshes\rubber_foot.stl"/>
      </geometry>
      <material name="rubber_foot_6_material">
        <color rgba="0.262745 0.282353 0.301961 1"/>
      </material>
    </visual>
    <collision>
      <origin xyz="-0.04375 3.60822e-16 -0.03" rpy="-1.61723e-15 1.5708 0"/>
      <geometry>
        <mesh filename="package://meshes\rubber_foot.stl"/>
      </geometry>
    </collision>
    <!-- Part servo_wheel_35 -->
    <visual>
      <origin xyz="-5.55112e-17 0 -0.0025" rpy="-3.14159 1.15799e-17 -4.98218e-31"/>
      <geometry>
        <mesh filename="package://meshes\servo_wheel.stl"/>
      </geometry>
      <material name="servo_wheel_35_material">
        <color rgba="0.647059 0.647059 0.647059 1"/>
      </material>
    </visual>
    <collision>
      <origin xyz="-5.55112e-17 0 -0.0025" rpy="-3.14159 1.15799e-17 -4.98218e-31"/>
      <geometry>
        <mesh filename="package://meshes\servo_wheel.stl"/>
      </geometry>
    </collision>
    <!-- Part servo_18 -->
    <visual>
      <origin xyz="-0.0175 -0.00140442 -0.0305" rpy="3.14159 1.60371e-17 -4.98218e-31"/>
      <geometry>
        <mesh filename="package://meshes\servo.stl"/>
      </geometry>
      <material name="servo_18_material">
        <color rgba="0.109804 0.109804 0.105882 1"/>
      </material>
    </visual>
    <collision>
      <origin xyz="-0.0175 -0.00140442 -0.0305" rpy="3.14159 1.60371e-17 -4.98218e-31"/>
      <geometry>
        <mesh filename="package://meshes\servo.stl"/>
      </geometry>
    </collision>
    <!-- Part fixed_bracket_18 -->
    <visual>
      <origin xyz="-0.0575 6.93889e-18 -0.0305" rpy="1.5708 1.5708 0"/>
      <geometry>
        <mesh filename="package://meshes\fixed_bracket.stl"/>
      </geometry>
      <material name="fixed_bracket_18_material">
        <color rgba="0.647059 0.647059 0.647059 1"/>
      </material>
    </visual>
    <collision>
      <origin xyz="-0.0575 6.93889e-18 -0.0305" rpy="1.5708 1.5708 0"/>
      <geometry>
        <mesh filename="package://meshes\fixed_bracket.stl"/>
      </geometry>
    </collision>
    <!-- Part servo_wheel_36 -->
    <visual>
      <origin xyz="1.66533e-16 0 -0.0585" rpy="-3.14159 -7.73986e-15 -2.07594e-30"/>
      <geometry>
        <mesh filename="package://meshes\servo_wheel.stl"/>
      </geometry>
      <material name="servo_wheel_36_material">
        <color rgba="0.647059 0.647059 0.647059 1"/>
      </material>
    </visual>
    <collision>
      <origin xyz="1.66533e-16 0 -0.0585" rpy="-3.14159 -7.73986e-15 -2.07594e-30"/>
      <geometry>
        <mesh filename="package://meshes\servo_wheel.stl"/>
      </geometry>
    </collision>
  </link>
  <!-- Joint from ties_assembly_6 to foot_assembly_6 -->
  <joint name="foot_6" type="revolute">
    <origin xyz="0.1918 0.000210323 -0.000790548" rpy="-1.79782e-15 2.47828e-15 -3.14159"/>
    <parent link="ties_assembly_6"/>
    <child link="foot_assembly_6"/>
    <axis xyz="0 0 1"/>
    <limit effort="10" velocity="10" lower="-2.0944" upper="2.0944"/>
  </joint>
  <!-- Joint from hip_assembly_6 to ties_assembly_6 -->
  <joint name="ties_6" type="revolute">
    <origin xyz="0.0925 -0.0311167 -0.0305" rpy="1.5708 7.98949e-15 2.49698e-12"/>
    <parent link="hip_assembly_6"/>
    <child link="ties_assembly_6"/>
    <axis xyz="0 0 1"/>
    <limit effort="10" velocity="10" lower="-1.74533" upper="1.74533"/>
  </joint>
  <!-- Joint from base_link to hip_assembly_6 -->
  <joint name="hip_6" type="revolute">
    <origin xyz="0.0137956 0.155216 0.0134908" rpy="-1.77288e-14 1.38591e-15 1.48353"/>
    <parent link="base_link"/>
    <child link="hip_assembly_6"/>
    <axis xyz="0 0 1"/>
    <limit effort="10" velocity="10" lower="-1.5708" upper="1.5708"/>
  </joint>
</robot>
